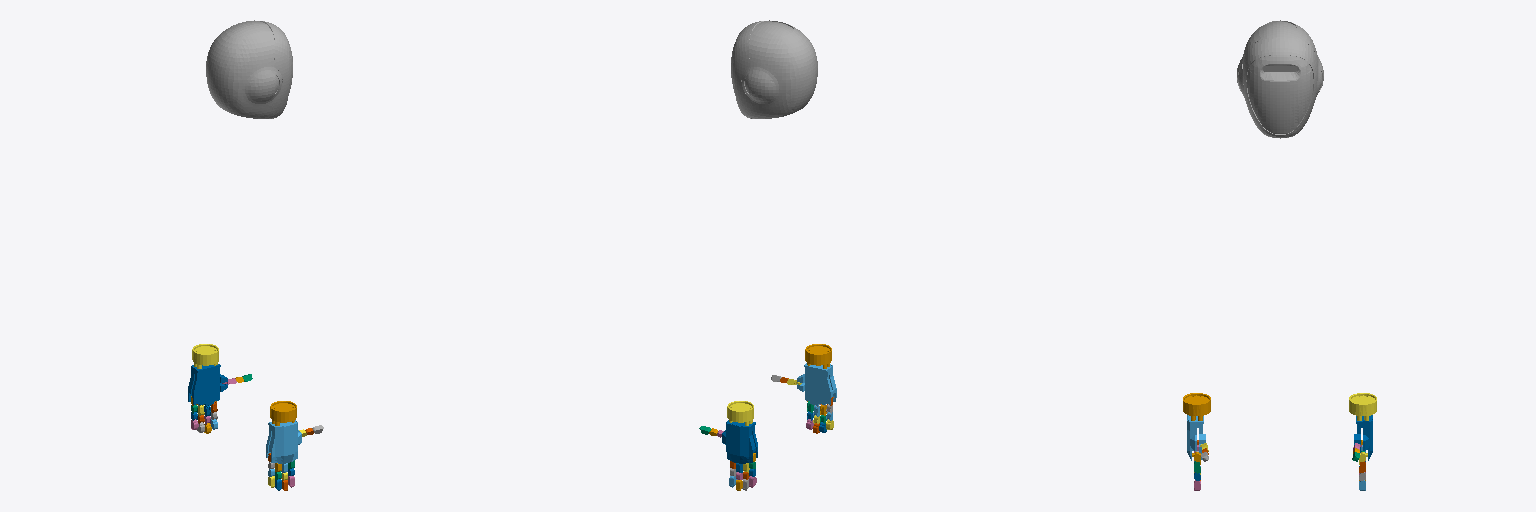
--- Facts derived from the render (not from the file) ---
Views: 3 orthographic renders of the robot side by side, from view 1: azimuth 30°, elevation 25°; view 2: azimuth 150°, elevation 25°; view 3: azimuth 270°, elevation 25°.
Robot: eve_r3 — 96 links, 95 joints (21 revolute, 2 continuous, 72 fixed); root link pelvis; default pose: every joint at zero.
Links seen in each view (by area): view 1: head, qbhand_left_palm_link, qbhand_right_palm_link, qbhand_left_base_link, qbhand_right_base_link; view 2: head, qbhand_right_palm_link, qbhand_left_palm_link, qbhand_left_base_link, qbhand_right_base_link; view 3: head, qbhand_right_base_link, qbhand_left_base_link, qbhand_right_palm_link.
Boxes of the visible links, <box> form: head: <box>206,20,292,118</box>; qbhand_left_palm_link: <box>188,364,227,405</box>; qbhand_right_palm_link: <box>266,420,301,463</box>; qbhand_left_base_link: <box>192,344,218,368</box>; qbhand_right_base_link: <box>270,401,296,425</box>; head: <box>731,20,817,118</box>; qbhand_right_palm_link: <box>797,363,836,405</box>; qbhand_left_palm_link: <box>722,420,757,463</box>; qbhand_left_base_link: <box>727,401,753,425</box>; qbhand_right_base_link: <box>805,344,831,368</box>; head: <box>1237,20,1323,138</box>; qbhand_right_base_link: <box>1183,393,1210,420</box>; qbhand_left_base_link: <box>1349,393,1376,420</box>; qbhand_right_palm_link: <box>1187,415,1205,460</box>.
Bounding box of the posed robot: 0.2379 × 0.4838 × 1.28 m (x, y, z).
Meshes: 25 distinct files referenced, 43 mesh visuals loaded (10 OBJ); not drawn: 23 (reference not matched to a file when rendering).

URDF robot description (eve_r3):
<?xml version="1.0" ?>
<!-- =================================================================================== -->
<!-- |    This document was autogenerated by xacro from [local-path]/ros2_test_ws/ros2-repository-group/eve_ws/src/halodi-robot-models/eve_r3_description/urdf/xacro/eve_r3.collision.urdf.xacro | -->
<!-- |    EDITING THIS FILE BY HAND IS NOT RECOMMENDED                                 | -->
<!-- =================================================================================== -->
<!--
Copyright 2019 Halodi Robotics AS
Author: Jesper Smith ([email redacted])

Licensed under the Apache License, Version 2.0 (the "License");
you may not use this file except in compliance with the License.
You may obtain a copy of the License at

<http://www.apache.org/licenses/LICENSE-2.0>.

Unless required by applicable law or agreed to in writing, software
distributed under the License is distributed on an "AS IS" BASIS,
WITHOUT WARRANTIES OR CONDITIONS OF ANY KIND, either express or implied.
See the License for the specific language governing permissions and
limitations under the License.
-->
<robot name="eve_r3" xmlns:ns2="http://www.ros.org" xmlns:xi="http://www.w3.org/2003/XInclude">
  <link name="pelvis">
    <inertial>
      <origin rpy="0.0 0.0 0.0" xyz="-0.02071479 -0.00544353 0.4100644"/>
      <mass value="10.12075049"/>
      <inertia ixx="0.2085075" ixy="8.581E-4" ixz="0.02176178" iyy="0.20882646" iyz="-0.00715583" izz="0.05515818"/>
    </inertial>
    <visual>
      <origin rpy="1.5707963 0.0 1.5707963" xyz="0.0 0.0 0.0"/>
      <geometry>
        <mesh filename="package://eve_r3_description/meshes/torso.obj" scale="1 1 1"/>
      </geometry>
    </visual>
    <collision>
      <origin rpy="9.13992e-10 0.0341716 1.56178e-11" xyz="0.00105003 -2.81214e-11 0.312479"/>
      <geometry>
        <sphere radius="0.15821131246447578"/>
      </geometry>
    </collision>
    <collision>
      <origin rpy="9.13992e-10 0.0341716 1.56178e-11" xyz="0.00574833 -1.53738e-10 0.449916"/>
      <geometry>
        <cylinder length="0.2750355457210817" radius="0.15821131246447578"/>
      </geometry>
    </collision>
    <collision>
      <origin rpy="9.13992e-10 0.0341716 1.56178e-11" xyz="0.0104466 -2.79355e-10 0.587354"/>
      <geometry>
        <sphere radius="0.15821131246447578"/>
      </geometry>
    </collision>
  </link>
  <joint name="j_hip_z" type="revolute">
    <origin rpy="0.0 0.0 0.0" xyz="0.0 0.0 0.0"/>
    <parent link="pelvis"/>
    <child link="abdomen"/>
    <axis xyz="0.0 0.0 1.0"/>
    <limit effort="-1.0" lower="-1.0472" upper="1.0472" velocity="-1.0"/>
  </joint>
  <link name="abdomen">
    <inertial>
      <origin rpy="0.0 0.0 0.0" xyz="-0.055941 0.001616 0.129607"/>
      <mass value="3.429553"/>
      <inertia ixx="0.055816" ixy="6.93E-4" ixz="-0.014517" iyy="0.054022" iyz="-0.001917" izz="0.020076"/>
    </inertial>
    <visual>
      <origin rpy="1.5707963 0.0 1.5707963" xyz="0.0 0.0 0.0"/>
      <geometry>
        <mesh filename="package://eve_r3_description/meshes/abdomen.obj" scale="1 1 1"/>
      </geometry>
    </visual>
  </link>
  <joint name="j_hip_x" type="revolute">
    <origin rpy="0.0 0.0 0.0" xyz="0.0 0.0 0.0"/>
    <parent link="abdomen"/>
    <child link="hip_x_link"/>
    <axis xyz="1.0 0.0 0.0"/>
    <limit effort="-1.0" lower="-0.523599" upper="0.523599" velocity="-1.0"/>
  </joint>
  <link name="hip_x_link">
    <inertial>
      <origin rpy="0.0 0.0 0.0" xyz="-0.01325838 -0.00134592 -2.24E-6"/>
      <mass value="2.94819561"/>
      <inertia ixx="0.01418919" ixy="6.936E-5" ixz="-7.734E-4" iyy="0.01504315" iyz="1.297E-5" izz="0.0170189"/>
    </inertial>
    <visual>
      <origin rpy="1.5707963 0.0 1.5707963" xyz="0.0 0.0 0.0"/>
      <geometry>
        <mesh filename="package://eve_r3_description/meshes/hip.obj" scale="1 1 1"/>
      </geometry>
    </visual>
  </link>
  <joint name="j_hip_y" type="revolute">
    <origin rpy="0.0 0.0 0.0" xyz="0.0 0.0 0.0"/>
    <parent link="hip_x_link"/>
    <child link="thigh"/>
    <axis xyz="0.0 1.0 0.0"/>
    <limit effort="-1.0" lower="-1.57" upper="0.174533" velocity="-1.0"/>
  </joint>
  <link name="thigh">
    <inertial>
      <origin rpy="0.0 0.0 0.0" xyz="0.04235221 1.7272E-4 -0.21689828"/>
      <mass value="10.80882706"/>
      <inertia ixx="0.1632404" ixy="2.6721E-4" ixz="0.01548511" iyy="0.14491867" iyz="-0.00115905" izz="0.06656334"/>
    </inertial>
    <visual>
      <origin rpy="1.5707963 0.0 1.5707963" xyz="0.0 0.0 0.0"/>
      <geometry>
        <mesh filename="package://eve_r3_description/meshes/thigh.obj" scale="1 1 1"/>
      </geometry>
    </visual>
    <collision>
      <origin rpy="-1.72563e-07 -0.0330992 2.85612e-09" xyz="0.0282257 -4.38066e-08 -0.37737"/>
      <geometry>
        <sphere radius="0.1443129681864922"/>
      </geometry>
    </collision>
    <collision>
      <origin rpy="-1.72563e-07 -0.0330992 2.85612e-09" xyz="0.0222008 -1.24073e-08 -0.195412"/>
      <geometry>
        <cylinder length="0.3641156505388305" radius="0.1443129681864922"/>
      </geometry>
    </collision>
    <collision>
      <origin rpy="-1.72563e-07 -0.0330992 2.85612e-09" xyz="0.016176 1.8992e-08 -0.0134536"/>
      <geometry>
        <sphere radius="0.1443129681864922"/>
      </geometry>
    </collision>
  </link>
  <joint name="j_knee_y" type="revolute">
    <origin rpy="0.0 0.0 0.0" xyz="0.0 0.0 -0.4"/>
    <parent link="thigh"/>
    <child link="shin"/>
    <axis xyz="0.0 1.0 0.0"/>
    <limit effort="-1.0" lower="0.0" upper="2.583" velocity="-1.0"/>
  </joint>
  <link name="shin">
    <inertial>
      <origin rpy="0.0 0.0 0.0" xyz="0.0177422 0.00453439 -0.17886128"/>
      <mass value="11.06513851"/>
      <inertia ixx="0.22300589" ixy="3.9863E-4" ixz="0.00421073" iyy="0.20307232" iyz="0.00715001" izz="0.05977916"/>
    </inertial>
    <visual>
      <origin rpy="1.5707963 0.0 1.5707963" xyz="0.0 0.0 0.0"/>
      <geometry>
        <mesh filename="package://eve_r3_description/meshes/shin.obj" scale="1 1 1"/>
      </geometry>
    </visual>
    <!-- <xacro:capsule-collision e1="0.00556497 -1.53939e-10 -0.373017" e2="0.0239255 -6.47095e-10 -0.0427174" rad="0.13200668659423737" lin="0.33080927242360381" rpy="1.49306e-09 0.0555303 4.14656e-11" mid="0.0147452 -4.00517e-10 -0.207867" /> -->
  </link>
  <joint name="j_ankle_y" type="revolute">
    <origin rpy="0.0 0.0 0.0" xyz="0.0 0.0 -0.38"/>
    <parent link="shin"/>
    <child link="ankle_y_link"/>
    <axis xyz="0.0 1.0 0.0"/>
    <limit effort="-1.0" lower="-1.57" upper="0.174533" velocity="-1.0"/>
  </joint>
  <link name="ankle_y_link">
    <inertial>
      <origin rpy="0.0 0.0 0.0" xyz="-0.017472 0.001483 -6.81E-4"/>
      <mass value="2.742145"/>
      <inertia ixx="0.010787" ixy="-9.0E-5" ixz="2.71E-4" iyy="0.009295" iyz="9.0E-6" izz="0.014432"/>
    </inertial>
    <visual>
      <origin rpy="1.5707963 0.0 1.5707963" xyz="0.0 0.0 0.0"/>
      <geometry>
        <mesh filename="package://eve_r3_description/meshes/ankle.obj" scale="1 1 1"/>
      </geometry>
    </visual>
  </link>
  <joint name="j_ankle_x" type="revolute">
    <origin rpy="0.0 0.0 0.0" xyz="0.0 0.0 0.0"/>
    <parent link="ankle_y_link"/>
    <child link="base"/>
    <axis xyz="1.0 0.0 0.0"/>
    <limit effort="-1.0" lower="-0.523599" upper="0.523599" velocity="-1.0"/>
  </joint>
  <link name="base">
    <inertial>
      <origin rpy="0.0 0.0 0.0" xyz="-0.005001 0.002979 -0.007684"/>
      <mass value="12.487535"/>
      <inertia ixx="0.330887" ixy="0.005202" ixz="-0.015354" iyy="0.233226" iyz="-3.7E-5" izz="0.532943"/>
    </inertial>
    <visual>
      <origin rpy="1.5707963 0.0 1.5707963" xyz="0.0 0.0 0.0"/>
      <geometry>
        <mesh filename="package://eve_r3_description/meshes/base.obj" scale="1 1 1"/>
      </geometry>
    </visual>
    <collision>
      <origin rpy="0.0 0.0 0.0" xyz="-0.284 0.0 0.019000"/>
      <geometry>
        <sphere radius="0.1524"/>
      </geometry>
    </collision>
  </link>
  <joint name="j_l_wheel_y" type="continuous">
    <origin rpy="0.0 0.0 0.0" xyz="0.142 0.26983 0.019"/>
    <parent link="base"/>
    <child link="l_wheel"/>
    <axis xyz="0.0 1.0 0.0"/>
    <limit effort="-1.0" lower="-1.0E16" upper="1.0E16" velocity="-1.0"/>
  </joint>
  <link name="l_wheel">
    <inertial>
      <origin rpy="0.0 0.0 0.0" xyz="1.45E-6 -0.00487572 -1.4137E-4"/>
      <mass value="2.17850874"/>
      <inertia ixx="0.0042794" ixy="-1.22E-6" ixz="-7.84E-6" iyy="0.0074513" iyz="-5.69E-6" izz="0.00423463"/>
    </inertial>
    <visual>
      <origin rpy="1.5707963 0.0 -1.5707963" xyz="0.0 0.0 0.0"/>
      <geometry>
        <mesh filename="package://eve_r3_description/meshes/wheel.obj" scale="1 1 1"/>
      </geometry>
    </visual>
    <collision>
      <origin rpy="1.5707963 0.0 0.0" xyz="0.0 0.0 0.0"/>
      <geometry>
        <cylinder length="0.03" radius="0.1524"/>
      </geometry>
    </collision>
  </link>
  <joint name="j_r_wheel_y" type="continuous">
    <origin rpy="0.0 0.0 0.0" xyz="0.142 -0.26983 0.019"/>
    <parent link="base"/>
    <child link="r_wheel"/>
    <axis xyz="0.0 1.0 0.0"/>
    <limit effort="-1.0" lower="-1.0E16" upper="1.0E16" velocity="-1.0"/>
  </joint>
  <link name="r_wheel">
    <inertial>
      <origin rpy="0.0 0.0 0.0" xyz="-1.45E-6 0.00487572 -1.4137E-4"/>
      <mass value="2.17850874"/>
      <inertia ixx="0.0042794" ixy="-1.22E-6" ixz="7.84E-6" iyy="0.0074513" iyz="5.69E-6" izz="0.00423463"/>
    </inertial>
    <visual>
      <origin rpy="1.5707963 0.0 1.5707963" xyz="0.0 0.0 0.0"/>
      <geometry>
        <mesh filename="package://eve_r3_description/meshes/wheel.obj" scale="1 1 1"/>
      </geometry>
    </visual>
    <collision>
      <origin rpy="1.5707963 0.0 0.0" xyz="0.0 0.0 0.0"/>
      <geometry>
        <cylinder length="0.03" radius="0.1524"/>
      </geometry>
    </collision>
  </link>
  <gazebo reference="pelvis">
    <sensor name="pelvis_imu_sensor" type="imu">
      <always_on>1</always_on>
      <update_rate>1000</update_rate>
      <imu>
        <noise>
          <type>gaussian</type>
          <rate>
            <mean>0</mean>
            <stddev>0.0022</stddev>
            <bias_mean>0.0035</bias_mean>
            <bias_stddev>0.001</bias_stddev>
          </rate>
          <accel>
            <mean>0</mean>
            <stddev>0.031</stddev>
            <bias_mean>0.006</bias_mean>
            <bias_stddev>0.001</bias_stddev>
          </accel>
        </noise>
      </imu>
      <pose frame="">-0.057 0.0 0.39790 0 0.0 0</pose>
    </sensor>
  </gazebo>
  <gazebo reference="base">
    <sensor name="base_imu_left" type="imu">
      <always_on>1</always_on>
      <update_rate>1000</update_rate>
      <imu>
        <noise>
          <type>gaussian</type>
          <rate>
            <mean>0</mean>
            <stddev>0.0022</stddev>
            <bias_mean>0.0174533</bias_mean>
            <bias_stddev>0.0001</bias_stddev>
          </rate>
          <accel>
            <mean>0</mean>
            <stddev>0.031</stddev>
            <bias_mean>0.012</bias_mean>
            <bias_stddev>0.001</bias_stddev>
          </accel>
        </noise>
      </imu>
      <pose frame="">0.23412 0.1925 0.013 0 0.0 0</pose>
    </sensor>
  </gazebo>
  <gazebo reference="base">
    <mu1>0.0</mu1>
    <mu2>0.0</mu2>
  </gazebo>
  <joint name="j_r_shoulder_y" type="revolute">
    <origin rpy="-0.261799 0.0 0.261799" xyz="0.01041 -0.20675 0.54735"/>
    <parent link="pelvis"/>
    <child link="r_scapula"/>
    <axis xyz="0.0 1.0 0.0"/>
    <limit effort="-1.0" lower="-2.4240878" upper="0.981049573" velocity="-1.0"/>
  </joint>
  <link name="r_scapula">
    <inertial>
      <origin rpy="0.0 0.0 0.0" xyz="3.7947E-4 0.06518341 0.02816495"/>
      <mass value="3.00220101"/>
      <inertia ixx="0.01020711" ixy="2.03E-6" ixz="-3.444E-5" iyy="0.01151732" iyz="0.00114803" izz="0.01329451"/>
    </inertial>
    <visual>
      <origin rpy="1.5707963 0.0 0.0" xyz="0.0 0.0 0.0"/>
      <geometry>
        <mesh filename="package://eve_r3_description/meshes/scapula.obj" scale="1 1 1"/>
      </geometry>
    </visual>
  </link>
  <joint name="j_r_shoulder_x" type="revolute">
    <origin rpy="0.261799 0.0 0.0" xyz="0.0 0.0 0.0"/>
    <parent link="r_scapula"/>
    <child link="r_shoulder"/>
    <axis xyz="1.0 0.0 0.0"/>
    <limit effort="-1.0" lower="-2.0943951" upper="0.0872665" velocity="-1.0"/>
  </joint>
  <link name="r_shoulder">
    <inertial>
      <origin rpy="0.0 0.0 0.0" xyz="1.673E-5 -1.9377E-4 -0.01871047"/>
      <mass value="0.62091759"/>
      <inertia ixx="9.7077E-4" ixy="3.76E-6" ixz="1.39E-6" iyy="0.00133514" iyz="-5.96E-6" izz="7.8248E-4"/>
    </inertial>
    <visual>
      <origin rpy="3.14159 0.0 0.0" xyz="0.0 0.0 0.0"/>
      <geometry>
        <mesh filename="package://eve_r3_description/meshes/shoulder.obj" scale="1 1 1"/>
      </geometry>
    </visual>
  </link>
  <joint name="j_r_shoulder_z" type="revolute">
    <origin rpy="0.0 0.0 -0.261799" xyz="0.0 0.0 0.0"/>
    <parent link="r_shoulder"/>
    <child link="r_upper_arm"/>
    <axis xyz="0.0 0.0 1.0"/>
    <limit effort="-1.0" lower="-0.5410525" upper="1.4660761" velocity="-1.0"/>
  </joint>
  <link name="r_upper_arm">
    <inertial>
      <origin rpy="0.0 0.0 0.0" xyz="-0.00699737 1.3778E-4 -0.1740665"/>
      <mass value="3.32084455"/>
      <inertia ixx="0.01594152" ixy="8.55E-6" ixz="-5.4922E-4" iyy="0.01550579" iyz="3.617E-5" izz="0.00620232"/>
    </inertial>
    <visual>
      <origin rpy="1.5707963 0.0 3.14159" xyz="0.0 0.0 0.0"/>
      <geometry>
        <mesh filename="package://eve_r3_description/meshes/upper_arm.obj" scale="1 1 1"/>
      </geometry>
    </visual>
    <collision>
      <origin rpy="3.14159 0.0342758 3.14159" xyz="-0.00724655 2.24005e-08 -0.118328"/>
      <geometry>
        <sphere radius="0.07633577123052412"/>
      </geometry>
    </collision>
    <collision>
      <origin rpy="3.14159 0.0342758 3.14159" xyz="-0.00381012 1.59666e-08 -0.218547"/>
      <geometry>
        <cylinder length="0.20055564626986525" radius="0.07633577123052412"/>
      </geometry>
    </collision>
    <collision>
      <origin rpy="3.14159 0.0342758 3.14159" xyz="-0.000373695 9.53277e-09 -0.318766"/>
      <geometry>
        <sphere radius="0.07633577123052412"/>
      </geometry>
    </collision>
  </link>
  <joint name="j_r_elbow_y" type="revolute">
    <origin rpy="0.0 0.0 0.0" xyz="0.0 0.0 -0.3141"/>
    <parent link="r_upper_arm"/>
    <child link="r_elbow"/>
    <axis xyz="0.0 1.0 0.0"/>
    <limit effort="-1.0" lower="-2.18166" upper="0.0" velocity="-1.0"/>
  </joint>
  <link name="r_elbow">
    <inertial>
      <origin rpy="0.0 0.0 0.0" xyz="6.557E-5 1.91E-6 -0.00890628"/>
      <mass value="0.4622891"/>
      <inertia ixx="8.234E-4" ixy="-2.0E-8" ixz="1.04E-6" iyy="3.6507E-4" iyz="-3.0E-8" izz="6.1458E-4"/>
    </inertial>
    <visual>
      <origin rpy="0.0 3.14159 1.5707963" xyz="0.0 0.0 0.0"/>
      <geometry>
        <mesh filename="package://eve_r3_description/meshes/elbow.obj" scale="1 1 1"/>
      </geometry>
    </visual>
  </link>
  <joint name="j_r_elbow_z" type="revolute">
    <origin rpy="0.0 0.0 0.0" xyz="0.0 0.0 0.0"/>
    <parent link="r_elbow"/>
    <child link="r_lower_arm"/>
    <axis xyz="0.0 0.0 1.0"/>
    <limit effort="-1.0" lower="-0.7854" upper="1.5708" velocity="-1.0"/>
  </joint>
  <link name="r_lower_arm">
    <inertial>
      <origin rpy="0.0 0.0 0.0" xyz="4.924E-5 -7.579E-5 -0.14272507"/>
      <mass value="1.72645167"/>
      <inertia ixx="0.00752527" ixy="2.55E-6" ixz="-3.2E-6" iyy="0.00785805" iyz="-8.5E-7" izz="0.00189704"/>
    </inertial>
    <visual>
      <origin rpy="0.0 3.14159 0.0" xyz="0.0 0.0 -0.29285"/>
      <geometry>
        <mesh filename="package://eve_r3_description/meshes/forearm.obj" scale="1 1 1"/>
      </geometry>
    </visual>
    <collision>
      <origin rpy="-1.42646e-11 -0.00013964 9.95948e-16" xyz="1.10713e-05 -2.03587e-12 -0.286073"/>
      <geometry>
        <sphere radius="0.061232815843670255"/>
      </geometry>
    </collision>
    <collision>
      <origin rpy="-1.42646e-11 -0.00013964 9.95948e-16" xyz="-3.15753e-06 -5.8236e-13 -0.184176"/>
      <geometry>
        <cylinder length="0.20379361437171506" radius="0.061232815843670255"/>
      </geometry>
    </collision>
    <collision>
      <origin rpy="-1.42646e-11 -0.00013964 9.95948e-16" xyz="-1.73864e-05 8.71154e-13 -0.0822794"/>
      <geometry>
        <sphere radius="0.061232815843670255"/>
      </geometry>
    </collision>
  </link>
  <joint name="j_r_wrist_y" type="revolute">
    <origin rpy="0.0 0.0 0.0" xyz="0.0 0.0 -0.29285"/>
    <parent link="r_lower_arm"/>
    <child link="r_wrist"/>
    <axis xyz="0.0 1.0 0.0"/>
    <limit effort="-1.0" lower="-0.785398" upper="0.785398" velocity="-1.0"/>
  </joint>
  <link name="r_wrist">
    <inertial>
      <origin rpy="0.0 0.0 0.0" xyz="1.859E-4 5.5E-5 -0.001294"/>
      <mass value="0.3582051"/>
      <inertia ixx="2.896E-4" ixy="2.1E-6" ixz="-1.1E-6" iyy="2.335E-4" iyz="-3.0E-7" izz="3.221E-4"/>
    </inertial>
    <visual>
      <origin rpy="0.0 0.0 1.5708" xyz="0.0 0.0 0.0"/>
      <geometry>
        <mesh filename="package://eve_r3_description/meshes/wrist.obj" scale="1 1 1"/>
      </geometry>
    </visual>
  </link>
  <joint name="j_r_wrist_x" type="revolute">
    <origin rpy="0.0 0.0 0.0" xyz="0.0 0.0 0.0"/>
    <parent link="r_wrist"/>
    <child link="r_palm"/>
    <axis xyz="1.0 0.0 0.0"/>
    <limit effort="-1.0" lower="-0.523599" upper="1.5708" velocity="-1.0"/>
  </joint>
  <link name="r_palm">
    <inertial>
      <origin rpy="0.0 0.0 0.0" xyz="0.0038054 -0.002091 -0.03373019"/>
      <mass value="0.22529206"/>
      <inertia ixx="2.4167E-4" ixy="-5.6E-7" ixz="-3.083E-5" iyy="4.0895E-4" iyz="3.58E-6" izz="2.7633E-4"/>
    </inertial>
    <visual>
      <origin rpy="-1.5707963 0.0 0.0" xyz="0.0 0.0 0.0"/>
      <geometry>
        <mesh filename="package://eve_r3_description/meshes/palm.obj" scale="1 1 1"/>
      </geometry>
    </visual>
  </link>
  <joint name="qbhand_right_base_fixed_joint" type="fixed">
    <origin rpy="3.14 0 3.14" xyz="0 0 -0.06"/>
    <parent link="r_palm"/>
    <child link="qbhand_right_base_link"/>
  </joint>
  <link name="qbhand_right_base_link">
    <inertial>
      <mass value="0.15"/>
      <origin xyz="0 0 0.0015"/>
      <inertia ixx="6e-05" ixy="0" ixz="0" iyy="6e-05" iyz="0" izz="9e-05"/>
    </inertial>
    <visual>
      <origin rpy="0 0 0" xyz="0 0 0"/>
      <geometry>
        <mesh filename="package://qb_hand_description/meshes/flange_iso_04.obj" scale="0.001 0.001 0.001"/>
      </geometry>
    </visual>
    <collision>
      <origin rpy="0 0 0" xyz="0 0 0"/>
      <geometry>
        <mesh filename="package://qb_hand_description/meshes/flange_iso_04.obj" scale="0.001 0.001 0.001"/>
      </geometry>
    </collision>
  </link>
  <joint name="qbhand_right_palm_fixed_joint" type="fixed">
    <origin rpy="1.57 0 0" xyz="-0.0045 0.0145 0.144"/>
    <parent link="qbhand_right_base_link"/>
    <child link="qbhand_right_palm_link"/>
  </joint>
  <link name="qbhand_right_palm_link">
    <inertial>
      <mass value="0.36"/>
      <origin xyz="0.0 0.02 0.05"/>
      <inertia ixx="0.00045" ixy="0.0" ixz="0.0" iyy="0.0006" iyz="0.0" izz="0.00025"/>
    </inertial>
    <visual>
      <origin rpy="0 0 0" xyz="0 0 0"/>
      <geometry>
        <mesh filename="package://qb_hand_description/meshes/palm_pinch_r.obj" scale="0.001 0.001 0.001"/>
      </geometry>
    </visual>
    <collision>
      <origin rpy="0 0 0" xyz="0 0 0"/>
      <geometry>
        <mesh filename="package://qb_hand_description/meshes/palm_pinch_r.obj" scale="0.001 0.001 0.001"/>
      </geometry>
    </collision>
  </link>
  <joint name="qbhand_right_synergy_joint" type="fixed">
    <origin rpy="0 0 0" xyz="0 0 0"/>
    <parent link="qbhand_right_palm_link"/>
    <child link="qbhand_right_tendon_virtual_link"/>
    <axis xyz="0 0 1"/>
    <dynamics damping="0.0" friction="0.0"/>
    <limit effort="100" lower="0.0" upper="1.0" velocity="100"/>
  </joint>
  <link name="qbhand_right_tendon_virtual_link">
    <inertial>
      <origin rpy="0 0 0" xyz="0 0 0"/>
      <mass value="0.005"/>
      <inertia ixx="1e-08" ixy="0.0" ixz="0.0" iyy="1e-08" iyz="0.0" izz="1e-08"/>
    </inertial>
  </link>
  <joint name="qbhand_right_thumb_knuckle_joint" type="fixed">
    <origin rpy="-1.57 3.14 0" xyz="-0.0435 -0.0435 -0.002"/>
    <parent link="qbhand_right_palm_link"/>
    <child link="qbhand_right_thumb_knuckle_link"/>
    <axis xyz="0 0 -1"/>
    <dynamics damping="0.0" friction="0.0"/>
    <limit effort="100" lower="0.0" upper="1.571" velocity="100"/>
    <mimic joint="qbhand_right_synergy_joint" multiplier="2.542"/>
  </joint>
  <link name="qbhand_right_thumb_knuckle_link">
    <inertial>
      <mass value="0.005"/>
      <origin xyz="0 0 0"/>
      <inertia ixx="1e-06" ixy="0.0" ixz="0.0" iyy="1e-06" iyz="0.0" izz="1e-06"/>
    </inertial>
    <visual>
      <origin rpy="0 0 0" xyz="0 0 0"/>
      <geometry>
        <mesh filename="package://qb_hand_description/meshes/ph_thumb_r.obj" scale="0.001 0.001 0.001"/>
      </geometry>
    </visual>
    <collision>
      <origin rpy="0 0 0" xyz="0 0 0"/>
      <geometry>
        <mesh filename="package://qb_hand_description/meshes/ph_thumb_r.obj" scale="0.001 0.001 0.001"/>
      </geometry>
    </collision>
  </link>
  <joint name="qbhand_right_thumb_proximal_joint" type="fixed">
    <origin rpy="-1.15 0.0 0.0" xyz="0.0255 -0.004 -0.0025"/>
    <parent link="qbhand_right_thumb_knuckle_link"/>
    <child link="qbhand_right_thumb_proximal_virtual_link"/>
    <axis xyz="0 0 -1"/>
    <dynamics damping="0.0" friction="0.0"/>
    <limit effort="100" lower="0.0" upper="0.785" velocity="100"/>
    <mimic joint="qbhand_right_synergy_joint" multiplier="0.785"/>
  </joint>
  <link name="qbhand_right_thumb_proximal_virtual_link">
    <inertial>
      <origin rpy="0 0 0" xyz="0 0 0"/>
      <mass value="0.005"/>
      <inertia ixx="1e-08" ixy="0.0" ixz="0.0" iyy="1e-08" iyz="0.0" izz="1e-08"/>
    </inertial>
  </link>
  <joint name="qbhand_right_thumb_proximal_virtual_joint" type="fixed">
    <origin rpy="0 0 0" xyz="0.013 0 0"/>
    <parent link="qbhand_right_thumb_proximal_virtual_link"/>
    <child link="qbhand_right_thumb_proximal_link"/>
    <axis xyz="0 0 -1"/>
    <dynamics damping="0.0" friction="0.0"/>
    <limit effort="100" lower="0.0" upper="0.785" velocity="100"/>
    <mimic joint="qbhand_right_thumb_proximal_joint" multiplier="1.0"/>
  </joint>
  <link name="qbhand_right_thumb_proximal_link">
    <inertial>
      <mass value="0.005"/>
      <origin xyz="0 0 0"/>
      <inertia ixx="1e-06" ixy="0.0" ixz="0.0" iyy="1e-06" iyz="0.0" izz="1e-06"/>
    </inertial>
    <visual>
      <origin rpy="0 0 0" xyz="0 0 0"/>
      <geometry>
        <mesh filename="package://qb_hand_description/meshes/ph_small.obj" scale="0.001 0.001 0.001"/>
      </geometry>
    </visual>
    <collision>
      <origin rpy="0 0 0" xyz="0 0 0"/>
      <geometry>
        <mesh filename="package://qb_hand_description/meshes/ph_small.obj" scale="0.001 0.001 0.001"/>
      </geometry>
    </collision>
  </link>
  <joint name="qbhand_right_thumb_distal_joint" type="fixed">
    <origin rpy="0 0 0" xyz="0.009 0 0"/>
    <parent link="qbhand_right_thumb_proximal_link"/>
    <child link="qbhand_right_thumb_distal_virtual_link"/>
    <axis xyz="0 0 -1"/>
    <dynamics damping="0.0" friction="0.0"/>
    <limit effort="100" lower="0.0" upper="0.785" velocity="100"/>
    <mimic joint="qbhand_right_synergy_joint" multiplier="0.785"/>
  </joint>
  <link name="qbhand_right_thumb_distal_virtual_link">
    <inertial>
      <origin rpy="0 0 0" xyz="0 0 0"/>
      <mass value="0.005"/>
      <inertia ixx="1e-08" ixy="0.0" ixz="0.0" iyy="1e-08" iyz="0.0" izz="1e-08"/>
    </inertial>
  </link>
  <joint name="qbhand_right_thumb_distal_virtual_joint" type="fixed">
    <origin rpy="0 0 0" xyz="0.013 0 0"/>
    <parent link="qbhand_right_thumb_distal_virtual_link"/>
    <child link="qbhand_right_thumb_distal_link"/>
    <axis xyz="0 0 -1"/>
    <dynamics damping="0.0" friction="0.0"/>
    <limit effort="100" lower="0.0" upper="0.785" velocity="100"/>
    <mimic joint="qbhand_right_thumb_distal_joint" multiplier="1.0"/>
  </joint>
  <link name="qbhand_right_thumb_distal_link">
    <inertial>
      <mass value="0.005"/>
      <origin xyz="0 0 0"/>
      <inertia ixx="1e-06" ixy="0.0" ixz="0.0" iyy="1e-06" iyz="0.0" izz="1e-06"/>
    </inertial>
    <visual>
      <origin rpy="0 0 0" xyz="0 0 0"/>
      <geometry>
        <mesh filename="package://qb_hand_description/meshes/ph_distal.obj" scale="0.001 0.001 0.001"/>
      </geometry>
    </visual>
    <collision>
      <origin rpy="0 0 0" xyz="0 0 0"/>
      <geometry>
        <mesh filename="package://qb_hand_description/meshes/ph_distal.obj" scale="0.001 0.001 0.001"/>
      </geometry>
    </collision>
  </link>
  <joint name="qbhand_right_index_knuckle_joint" type="fixed">
    <origin rpy="0 0 0" xyz="-0.02 -0.007 0.014"/>
    <parent link="qbhand_right_palm_link"/>
    <child link="qbhand_right_index_knuckle_link"/>
    <axis xyz="0 0 -1"/>
    <dynamics damping="0.0" friction="0.0"/>
    <limit effort="100" lower="-0.524" upper="0.524" velocity="100"/>
    <mimic joint="qbhand_right_synergy_joint" multiplier="-0.2"/>
  </joint>
  <link name="qbhand_right_index_knuckle_link">
    <inertial>
      <mass value="0.005"/>
      <origin xyz="0 0 0"/>
      <inertia ixx="1e-06" ixy="0.0" ixz="0.0" iyy="1e-06" iyz="0.0" izz="1e-06"/>
    </inertial>
    <visual>
      <origin rpy="0 0 0" xyz="0 0 0"/>
      <geometry>
        <mesh filename="package://qb_hand_description/meshes/ph_knuckle.obj" scale="0.001 0.001 0.001"/>
      </geometry>
    </visual>
    <collision>
      <origin rpy="0 0 0" xyz="0 0 0"/>
      <geometry>
        <mesh filename="package://qb_hand_description/meshes/ph_knuckle.obj" scale="0.001 0.001 0.001"/>
      </geometry>
    </collision>
  </link>
  <joint name="qbhand_right_index_proximal_joint" type="fixed">
    <origin rpy="1.57 0 1.57" xyz="0 0.009 0"/>
    <parent link="qbhand_right_index_knuckle_link"/>
    <child link="qbhand_right_index_proximal_virtual_link"/>
    <axis xyz="0 0 -1"/>
    <dynamics damping="0.0" friction="0.0"/>
    <limit effort="100" lower="0.0" upper="0.785" velocity="100"/>
    <mimic joint="qbhand_right_synergy_joint" multiplier="0.785"/>
  </joint>
  <link name="qbhand_right_index_proximal_virtual_link">
    <inertial>
      <origin rpy="0 0 0" xyz="0 0 0"/>
      <mass value="0.005"/>
      <inertia ixx="1e-08" ixy="0.0" ixz="0.0" iyy="1e-08" iyz="0.0" izz="1e-08"/>
    </inertial>
  </link>
  <joint name="qbhand_right_index_proximal_virtual_joint" type="fixed">
    <origin rpy="0 0 0" xyz="0.013 0 0"/>
    <parent link="qbhand_right_index_proximal_virtual_link"/>
    <child link="qbhand_right_index_proximal_link"/>
    <axis xyz="0 0 -1"/>
    <dynamics damping="0.0" friction="0.0"/>
    <limit effort="100" lower="0.0" upper="0.785" velocity="100"/>
    <mimic joint="qbhand_right_index_proximal_joint" multiplier="1.0"/>
  </joint>
  <link name="qbhand_right_index_proximal_link">
    <inertial>
      <mass value="0.005"/>
      <origin xyz="0 0 0"/>
      <inertia ixx="1e-06" ixy="0.0" ixz="0.0" iyy="1e-06" iyz="0.0" izz="1e-06"/>
    </inertial>
    <visual>
      <origin rpy="0 0 0" xyz="0 0 0"/>
      <geometry>
        <mesh filename="package://qb_hand_description/meshes/ph_medium.obj" scale="0.001 0.001 0.001"/>
      </geometry>
    </visual>
    <collision>
      <origin rpy="0 0 0" xyz="0 0 0"/>
      <geometry>
        <mesh filename="package://qb_hand_description/meshes/ph_medium.obj" scale="0.001 0.001 0.001"/>
      </geometry>
    </collision>
  </link>
  <joint name="qbhand_right_index_middle_joint" type="fixed">
    <origin rpy="0 0 0" xyz="0.017 0 0"/>
    <parent link="qbhand_right_index_proximal_link"/>
    <child link="qbhand_right_index_middle_virtual_link"/>
    <axis xyz="0 0 -1"/>
    <dynamics damping="0.0" friction="0.0"/>
    <limit effort="100" lower="0.0" upper="0.785" velocity="100"/>
    <mimic joint="qbhand_right_synergy_joint" multiplier="0.785"/>
  </joint>
  <link name="qbhand_right_index_middle_virtual_link">
    <inertial>
      <origin rpy="0 0 0" xyz="0 0 0"/>
      <mass value="0.005"/>
      <inertia ixx="1e-08" ixy="0.0" ixz="0.0" iyy="1e-08" iyz="0.0" izz="1e-08"/>
    </inertial>
  </link>
  <joint name="qbhand_right_index_middle_virtual_joint" type="fixed">
    <origin rpy="0 0 0" xyz="0.013 0 0"/>
    <parent link="qbhand_right_index_middle_virtual_link"/>
    <child link="qbhand_right_index_middle_link"/>
    <axis xyz="0 0 -1"/>
    <dynamics damping="0.0" friction="0.0"/>
    <limit effort="100" lower="0.0" upper="0.785" velocity="100"/>
    <mimic joint="qbhand_right_index_middle_joint" multiplier="1.0"/>
  </joint>
  <link name="qbhand_right_index_middle_link">
    <inertial>
      <mass value="0.005"/>
      <origin xyz="0 0 0"/>
      <inertia ixx="1e-06" ixy="0.0" ixz="0.0" iyy="1e-06" iyz="0.0" izz="1e-06"/>
    </inertial>
    <visual>
      <origin rpy="0 0 0" xyz="0 0 0"/>
      <geometry>
        <mesh filename="package://qb_hand_description/meshes/ph_small.obj" scale="0.001 0.001 0.001"/>
      </geometry>
    </visual>
    <collision>
      <origin rpy="0 0 0" xyz="0 0 0"/>
      <geometry>
        <mesh filename="package://qb_hand_description/meshes/ph_small.obj" scale="0.001 0.001 0.001"/>
      </geometry>
    </collision>
  </link>
  <joint name="qbhand_right_index_distal_joint" type="fixed">
    <origin rpy="0 0 0" xyz="0.009 0 0"/>
    <parent link="qbhand_right_index_middle_link"/>
    <child link="qbhand_right_index_distal_virtual_link"/>
    <axis xyz="0 0 -1"/>
    <dynamics damping="0.0" friction="0.0"/>
    <limit effort="100" lower="0.0" upper="0.785" velocity="100"/>
    <mimic joint="qbhand_right_synergy_joint" multiplier="0.785"/>
  </joint>
  <link name="qbhand_right_index_distal_virtual_link">
    <inertial>
      <origin rpy="0 0 0" xyz="0 0 0"/>
      <mass value="0.005"/>
      <inertia ixx="1e-08" ixy="0.0" ixz="0.0" iyy="1e-08" iyz="0.0" izz="1e-08"/>
    </inertial>
  </link>
  <joint name="qbhand_right_index_distal_virtual_joint" type="fixed">
    <origin rpy="0 0 0" xyz="0.013 0 0"/>
    <parent link="qbhand_right_index_distal_virtual_link"/>
    <child link="qbhand_right_index_distal_link"/>
    <axis xyz="0 0 -1"/>
    <dynamics damping="0.0" friction="0.0"/>
    <limit effort="100" lower="0.0" upper="0.785" velocity="100"/>
    <mimic joint="qbhand_right_index_distal_joint" multiplier="1.0"/>
  </joint>
  <link name="qbhand_right_index_distal_link">
    <inertial>
      <mass value="0.005"/>
      <origin xyz="0 0 0"/>
      <inertia ixx="1e-06" ixy="0.0" ixz="0.0" iyy="1e-06" iyz="0.0" izz="1e-06"/>
    </inertial>
    <visual>
      <origin rpy="0 0 0" xyz="0 0 0"/>
      <geometry>
        <mesh filename="package://qb_hand_description/meshes/ph_distal.obj" scale="0.001 0.001 0.001"/>
      </geometry>
    </visual>
    <collision>
      <origin rpy="0 0 0" xyz="0 0 0"/>
      <geometry>
        <mesh filename="package://qb_hand_description/meshes/ph_distal.obj" scale="0.001 0.001 0.001"/>
      </geometry>
    </collision>
  </link>
  <joint name="qbhand_right_middle_knuckle_joint" type="fixed">
    <origin rpy="0 0 0" xyz="0 0 0.014"/>
    <parent link="qbhand_right_palm_link"/>
    <child link="qbhand_right_middle_knuckle_link"/>
    <axis xyz="0 0 -1"/>
    <dynamics damping="0.0" friction="0.0"/>
    <limit effort="100" lower="-0.524" upper="0.524" velocity="100"/>
    <mimic joint="qbhand_right_synergy_joint" multiplier="0.0"/>
  </joint>
  <link name="qbhand_right_middle_knuckle_link">
    <inertial>
      <mass value="0.005"/>
      <origin xyz="0 0 0"/>
      <inertia ixx="1e-06" ixy="0.0" ixz="0.0" iyy="1e-06" iyz="0.0" izz="1e-06"/>
    </inertial>
    <visual>
      <origin rpy="0 0 0" xyz="0 0 0"/>
      <geometry>
        <mesh filename="package://qb_hand_description/meshes/ph_knuckle.obj" scale="0.001 0.001 0.001"/>
      </geometry>
    </visual>
    <collision>
      <origin rpy="0 0 0" xyz="0 0 0"/>
      <geometry>
        <mesh filename="package://qb_hand_description/meshes/ph_knuckle.obj" scale="0.001 0.001 0.001"/>
      </geometry>
    </collision>
  </link>
  <joint name="qbhand_right_middle_proximal_joint" type="fixed">
    <origin rpy="1.57 0 1.57" xyz="0 0.009 0"/>
    <parent link="qbhand_right_middle_knuckle_link"/>
    <child link="qbhand_right_middle_proximal_virtual_link"/>
    <axis xyz="0 0 -1"/>
    <dynamics damping="0.0" friction="0.0"/>
    <limit effort="100" lower="0.0" upper="0.785" velocity="100"/>
    <mimic joint="qbhand_right_synergy_joint" multiplier="0.785"/>
  </joint>
  <link name="qbhand_right_middle_proximal_virtual_link">
    <inertial>
      <origin rpy="0 0 0" xyz="0 0 0"/>
      <mass value="0.005"/>
      <inertia ixx="1e-08" ixy="0.0" ixz="0.0" iyy="1e-08" iyz="0.0" izz="1e-08"/>
    </inertial>
  </link>
  <joint name="qbhand_right_middle_proximal_virtual_joint" type="fixed">
    <origin rpy="0 0 0" xyz="0.013 0 0"/>
    <parent link="qbhand_right_middle_proximal_virtual_link"/>
    <child link="qbhand_right_middle_proximal_link"/>
    <axis xyz="0 0 -1"/>
    <dynamics damping="0.0" friction="0.0"/>
    <limit effort="100" lower="0.0" upper="0.785" velocity="100"/>
    <mimic joint="qbhand_right_middle_proximal_joint" multiplier="1.0"/>
  </joint>
  <link name="qbhand_right_middle_proximal_link">
    <inertial>
      <mass value="0.005"/>
      <origin xyz="0 0 0"/>
      <inertia ixx="1e-06" ixy="0.0" ixz="0.0" iyy="1e-06" iyz="0.0" izz="1e-06"/>
    </inertial>
    <visual>
      <origin rpy="0 0 0" xyz="0 0 0"/>
      <geometry>
        <mesh filename="package://qb_hand_description/meshes/ph_medium.obj" scale="0.001 0.001 0.001"/>
      </geometry>
    </visual>
    <collision>
      <origin rpy="0 0 0" xyz="0 0 0"/>
      <geometry>
        <mesh filename="package://qb_hand_description/meshes/ph_medium.obj" scale="0.001 0.001 0.001"/>
      </geometry>
    </collision>
  </link>
  <joint name="qbhand_right_middle_middle_joint" type="fixed">
    <origin rpy="0 0 0" xyz="0.017 0 0"/>
    <parent link="qbhand_right_middle_proximal_link"/>
    <child link="qbhand_right_middle_middle_virtual_link"/>
    <axis xyz="0 0 -1"/>
    <dynamics damping="0.0" friction="0.0"/>
    <limit effort="100" lower="0.0" upper="0.785" velocity="100"/>
    <mimic joint="qbhand_right_synergy_joint" multiplier="0.785"/>
  </joint>
  <link name="qbhand_right_middle_middle_virtual_link">
    <inertial>
      <origin rpy="0 0 0" xyz="0 0 0"/>
      <mass value="0.005"/>
      <inertia ixx="1e-08" ixy="0.0" ixz="0.0" iyy="1e-08" iyz="0.0" izz="1e-08"/>
    </inertial>
  </link>
  <joint name="qbhand_right_middle_middle_virtual_joint" type="fixed">
    <origin rpy="0 0 0" xyz="0.013 0 0"/>
    <parent link="qbhand_right_middle_middle_virtual_link"/>
    <child link="qbhand_right_middle_middle_link"/>
    <axis xyz="0 0 -1"/>
    <dynamics damping="0.0" friction="0.0"/>
    <limit effort="100" lower="0.0" upper="0.785" velocity="100"/>
    <mimic joint="qbhand_right_middle_middle_joint" multiplier="1.0"/>
  </joint>
  <link name="qbhand_right_middle_middle_link">
    <inertial>
      <mass value="0.005"/>
      <origin xyz="0 0 0"/>
      <inertia ixx="1e-06" ixy="0.0" ixz="0.0" iyy="1e-06" iyz="0.0" izz="1e-06"/>
    </inertial>
    <visual>
      <origin rpy="0 0 0" xyz="0 0 0"/>
      <geometry>
        <mesh filename="package://qb_hand_description/meshes/ph_small.obj" scale="0.001 0.001 0.001"/>
      </geometry>
    </visual>
    <collision>
      <origin rpy="0 0 0" xyz="0 0 0"/>
      <geometry>
        <mesh filename="package://qb_hand_description/meshes/ph_small.obj" scale="0.001 0.001 0.001"/>
      </geometry>
    </collision>
  </link>
  <joint name="qbhand_right_middle_distal_joint" type="fixed">
    <origin rpy="0 0 0" xyz="0.009 0 0"/>
    <parent link="qbhand_right_middle_middle_link"/>
    <child link="qbhand_right_middle_distal_virtual_link"/>
    <axis xyz="0 0 -1"/>
    <dynamics damping="0.0" friction="0.0"/>
    <limit effort="100" lower="0.0" upper="0.785" velocity="100"/>
    <mimic joint="qbhand_right_synergy_joint" multiplier="0.785"/>
  </joint>
  <link name="qbhand_right_middle_distal_virtual_link">
    <inertial>
      <origin rpy="0 0 0" xyz="0 0 0"/>
      <mass value="0.005"/>
      <inertia ixx="1e-08" ixy="0.0" ixz="0.0" iyy="1e-08" iyz="0.0" izz="1e-08"/>
    </inertial>
  </link>
  <joint name="qbhand_right_middle_distal_virtual_joint" type="fixed">
    <origin rpy="0 0 0" xyz="0.013 0 0"/>
    <parent link="qbhand_right_middle_distal_virtual_link"/>
    <child link="qbhand_right_middle_distal_link"/>
    <axis xyz="0 0 -1"/>
    <dynamics damping="0.0" friction="0.0"/>
    <limit effort="100" lower="0.0" upper="0.785" velocity="100"/>
    <mimic joint="qbhand_right_middle_distal_joint" multiplier="1.0"/>
  </joint>
  <link name="qbhand_right_middle_distal_link">
    <inertial>
      <mass value="0.005"/>
      <origin xyz="0 0 0"/>
      <inertia ixx="1e-06" ixy="0.0" ixz="0.0" iyy="1e-06" iyz="0.0" izz="1e-06"/>
    </inertial>
    <visual>
      <origin rpy="0 0 0" xyz="0 0 0"/>
      <geometry>
        <mesh filename="package://qb_hand_description/meshes/ph_distal.obj" scale="0.001 0.001 0.001"/>
      </geometry>
    </visual>
    <collision>
      <origin rpy="0 0 0" xyz="0 0 0"/>
      <geometry>
        <mesh filename="package://qb_hand_description/meshes/ph_distal.obj" scale="0.001 0.001 0.001"/>
      </geometry>
    </collision>
  </link>
  <joint name="qbhand_right_ring_knuckle_joint" type="fixed">
    <origin rpy="0 0 0" xyz="0.02 -0.007 0.014"/>
    <parent link="qbhand_right_palm_link"/>
    <child link="qbhand_right_ring_knuckle_link"/>
    <axis xyz="0 0 -1"/>
    <dynamics damping="0.0" friction="0.0"/>
    <limit effort="100" lower="-0.524" upper="0.524" velocity="100"/>
    <mimic joint="qbhand_right_synergy_joint" multiplier="0.2"/>
  </joint>
  <link name="qbhand_right_ring_knuckle_link">
    <inertial>
      <mass value="0.005"/>
      <origin xyz="0 0 0"/>
      <inertia ixx="1e-06" ixy="0.0" ixz="0.0" iyy="1e-06" iyz="0.0" izz="1e-06"/>
    </inertial>
    <visual>
      <origin rpy="0 0 0" xyz="0 0 0"/>
      <geometry>
        <mesh filename="package://qb_hand_description/meshes/ph_knuckle.obj" scale="0.001 0.001 0.001"/>
      </geometry>
    </visual>
    <collision>
      <origin rpy="0 0 0" xyz="0 0 0"/>
      <geometry>
        <mesh filename="package://qb_hand_description/meshes/ph_knuckle.obj" scale="0.001 0.001 0.001"/>
      </geometry>
    </collision>
  </link>
  <joint name="qbhand_right_ring_proximal_joint" type="fixed">
    <origin rpy="1.57 0 1.57" xyz="0 0.009 0"/>
    <parent link="qbhand_right_ring_knuckle_link"/>
    <child link="qbhand_right_ring_proximal_virtual_link"/>
    <axis xyz="0 0 -1"/>
    <dynamics damping="0.0" friction="0.0"/>
    <limit effort="100" lower="0.0" upper="0.785" velocity="100"/>
    <mimic joint="qbhand_right_synergy_joint" multiplier="0.785"/>
  </joint>
  <link name="qbhand_right_ring_proximal_virtual_link">
    <inertial>
      <origin rpy="0 0 0" xyz="0 0 0"/>
      <mass value="0.005"/>
      <inertia ixx="1e-08" ixy="0.0" ixz="0.0" iyy="1e-08" iyz="0.0" izz="1e-08"/>
    </inertial>
  </link>
  <joint name="qbhand_right_ring_proximal_virtual_joint" type="fixed">
    <origin rpy="0 0 0" xyz="0.013 0 0"/>
    <parent link="qbhand_right_ring_proximal_virtual_link"/>
    <child link="qbhand_right_ring_proximal_link"/>
    <axis xyz="0 0 -1"/>
    <dynamics damping="0.0" friction="0.0"/>
    <limit effort="100" lower="0.0" upper="0.785" velocity="100"/>
    <mimic joint="qbhand_right_ring_proximal_joint" multiplier="1.0"/>
  </joint>
  <link name="qbhand_right_ring_proximal_link">
    <inertial>
      <mass value="0.005"/>
      <origin xyz="0 0 0"/>
      <inertia ixx="1e-06" ixy="0.0" ixz="0.0" iyy="1e-06" iyz="0.0" izz="1e-06"/>
    </inertial>
    <visual>
      <origin rpy="0 0 0" xyz="0 0 0"/>
      <geometry>
        <mesh filename="package://qb_hand_description/meshes/ph_medium.obj" scale="0.001 0.001 0.001"/>
      </geometry>
    </visual>
    <collision>
      <origin rpy="0 0 0" xyz="0 0 0"/>
      <geometry>
        <mesh filename="package://qb_hand_description/meshes/ph_medium.obj" scale="0.001 0.001 0.001"/>
      </geometry>
    </collision>
  </link>
  <joint name="qbhand_right_ring_middle_joint" type="fixed">
    <origin rpy="0 0 0" xyz="0.017 0 0"/>
    <parent link="qbhand_right_ring_proximal_link"/>
    <child link="qbhand_right_ring_middle_virtual_link"/>
    <axis xyz="0 0 -1"/>
    <dynamics damping="0.0" friction="0.0"/>
    <limit effort="100" lower="0.0" upper="0.785" velocity="100"/>
    <mimic joint="qbhand_right_synergy_joint" multiplier="0.785"/>
  </joint>
  <link name="qbhand_right_ring_middle_virtual_link">
    <inertial>
      <origin rpy="0 0 0" xyz="0 0 0"/>
      <mass value="0.005"/>
      <inertia ixx="1e-08" ixy="0.0" ixz="0.0" iyy="1e-08" iyz="0.0" izz="1e-08"/>
    </inertial>
  </link>
  <joint name="qbhand_right_ring_middle_virtual_joint" type="fixed">
    <origin rpy="0 0 0" xyz="0.013 0 0"/>
    <parent link="qbhand_right_ring_middle_virtual_link"/>
    <child link="qbhand_right_ring_middle_link"/>
    <axis xyz="0 0 -1"/>
    <dynamics damping="0.0" friction="0.0"/>
    <limit effort="100" lower="0.0" upper="0.785" velocity="100"/>
    <mimic joint="qbhand_right_ring_middle_joint" multiplier="1.0"/>
  </joint>
  <link name="qbhand_right_ring_middle_link">
    <inertial>
      <mass value="0.005"/>
      <origin xyz="0 0 0"/>
      <inertia ixx="1e-06" ixy="0.0" ixz="0.0" iyy="1e-06" iyz="0.0" izz="1e-06"/>
    </inertial>
    <visual>
      <origin rpy="0 0 0" xyz="0 0 0"/>
      <geometry>
        <mesh filename="package://qb_hand_description/meshes/ph_small.obj" scale="0.001 0.001 0.001"/>
      </geometry>
    </visual>
    <collision>
      <origin rpy="0 0 0" xyz="0 0 0"/>
      <geometry>
        <mesh filename="package://qb_hand_description/meshes/ph_small.obj" scale="0.001 0.001 0.001"/>
      </geometry>
    </collision>
  </link>
  <joint name="qbhand_right_ring_distal_joint" type="fixed">
    <origin rpy="0 0 0" xyz="0.009 0 0"/>
    <parent link="qbhand_right_ring_middle_link"/>
    <child link="qbhand_right_ring_distal_virtual_link"/>
    <axis xyz="0 0 -1"/>
    <dynamics damping="0.0" friction="0.0"/>
    <limit effort="100" lower="0.0" upper="0.785" velocity="100"/>
    <mimic joint="qbhand_right_synergy_joint" multiplier="0.785"/>
  </joint>
  <link name="qbhand_right_ring_distal_virtual_link">
    <inertial>
      <origin rpy="0 0 0" xyz="0 0 0"/>
      <mass value="0.005"/>
      <inertia ixx="1e-08" ixy="0.0" ixz="0.0" iyy="1e-08" iyz="0.0" izz="1e-08"/>
    </inertial>
  </link>
  <joint name="qbhand_right_ring_distal_virtual_joint" type="fixed">
    <origin rpy="0 0 0" xyz="0.013 0 0"/>
    <parent link="qbhand_right_ring_distal_virtual_link"/>
    <child link="qbhand_right_ring_distal_link"/>
    <axis xyz="0 0 -1"/>
    <dynamics damping="0.0" friction="0.0"/>
    <limit effort="100" lower="0.0" upper="0.785" velocity="100"/>
    <mimic joint="qbhand_right_ring_distal_joint" multiplier="1.0"/>
  </joint>
  <link name="qbhand_right_ring_distal_link">
    <inertial>
      <mass value="0.005"/>
      <origin xyz="0 0 0"/>
      <inertia ixx="1e-06" ixy="0.0" ixz="0.0" iyy="1e-06" iyz="0.0" izz="1e-06"/>
    </inertial>
    <visual>
      <origin rpy="0 0 0" xyz="0 0 0"/>
      <geometry>
        <mesh filename="package://qb_hand_description/meshes/ph_distal.obj" scale="0.001 0.001 0.001"/>
      </geometry>
    </visual>
    <collision>
      <origin rpy="0 0 0" xyz="0 0 0"/>
      <geometry>
        <mesh filename="package://qb_hand_description/meshes/ph_distal.obj" scale="0.001 0.001 0.001"/>
      </geometry>
    </collision>
  </link>
  <joint name="qbhand_right_little_knuckle_joint" type="fixed">
    <origin rpy="0 0 0" xyz="0.04 -0.012 0.014"/>
    <parent link="qbhand_right_palm_link"/>
    <child link="qbhand_right_little_knuckle_link"/>
    <axis xyz="0 0 -1"/>
    <dynamics damping="0.0" friction="0.0"/>
    <limit effort="100" lower="-0.524" upper="0.524" velocity="100"/>
    <mimic joint="qbhand_right_synergy_joint" multiplier="0.4"/>
  </joint>
  <link name="qbhand_right_little_knuckle_link">
    <inertial>
      <mass value="0.005"/>
      <origin xyz="0 0 0"/>
      <inertia ixx="1e-06" ixy="0.0" ixz="0.0" iyy="1e-06" iyz="0.0" izz="1e-06"/>
    </inertial>
    <visual>
      <origin rpy="0 0 0" xyz="0 0 0"/>
      <geometry>
        <mesh filename="package://qb_hand_description/meshes/ph_knuckle.obj" scale="0.001 0.001 0.001"/>
      </geometry>
    </visual>
    <collision>
      <origin rpy="0 0 0" xyz="0 0 0"/>
      <geometry>
        <mesh filename="package://qb_hand_description/meshes/ph_knuckle.obj" scale="0.001 0.001 0.001"/>
      </geometry>
    </collision>
  </link>
  <joint name="qbhand_right_little_proximal_joint" type="fixed">
    <origin rpy="1.57 0 1.57" xyz="0 0.009 0"/>
    <parent link="qbhand_right_little_knuckle_link"/>
    <child link="qbhand_right_little_proximal_virtual_link"/>
    <axis xyz="0 0 -1"/>
    <dynamics damping="0.0" friction="0.0"/>
    <limit effort="100" lower="0.0" upper="0.785" velocity="100"/>
    <mimic joint="qbhand_right_synergy_joint" multiplier="0.785"/>
  </joint>
  <link name="qbhand_right_little_proximal_virtual_link">
    <inertial>
      <origin rpy="0 0 0" xyz="0 0 0"/>
      <mass value="0.005"/>
      <inertia ixx="1e-08" ixy="0.0" ixz="0.0" iyy="1e-08" iyz="0.0" izz="1e-08"/>
    </inertial>
  </link>
  <joint name="qbhand_right_little_proximal_virtual_joint" type="fixed">
    <origin rpy="0 0 0" xyz="0.013 0 0"/>
    <parent link="qbhand_right_little_proximal_virtual_link"/>
    <child link="qbhand_right_little_proximal_link"/>
    <axis xyz="0 0 -1"/>
    <dynamics damping="0.0" friction="0.0"/>
    <limit effort="100" lower="0.0" upper="0.785" velocity="100"/>
    <mimic joint="qbhand_right_little_proximal_joint" multiplier="1.0"/>
  </joint>
  <link name="qbhand_right_little_proximal_link">
    <inertial>
      <mass value="0.005"/>
      <origin xyz="0 0 0"/>
      <inertia ixx="1e-06" ixy="0.0" ixz="0.0" iyy="1e-06" iyz="0.0" izz="1e-06"/>
    </inertial>
    <visual>
      <origin rpy="0 0 0" xyz="0 0 0"/>
      <geometry>
        <mesh filename="package://qb_hand_description/meshes/ph_small.obj" scale="0.001 0.001 0.001"/>
      </geometry>
    </visual>
    <collision>
      <origin rpy="0 0 0" xyz="0 0 0"/>
      <geometry>
        <mesh filename="package://qb_hand_description/meshes/ph_small.obj" scale="0.001 0.001 0.001"/>
      </geometry>
    </collision>
  </link>
  <joint name="qbhand_right_little_middle_joint" type="fixed">
    <origin rpy="0 0 0" xyz="0.009 0 0"/>
    <parent link="qbhand_right_little_proximal_link"/>
    <child link="qbhand_right_little_middle_virtual_link"/>
    <axis xyz="0 0 -1"/>
    <dynamics damping="0.0" friction="0.0"/>
    <limit effort="100" lower="0.0" upper="0.785" velocity="100"/>
    <mimic joint="qbhand_right_synergy_joint" multiplier="0.785"/>
  </joint>
  <link name="qbhand_right_little_middle_virtual_link">
    <inertial>
      <origin rpy="0 0 0" xyz="0 0 0"/>
      <mass value="0.005"/>
      <inertia ixx="1e-08" ixy="0.0" ixz="0.0" iyy="1e-08" iyz="0.0" izz="1e-08"/>
    </inertial>
  </link>
  <joint name="qbhand_right_little_middle_virtual_joint" type="fixed">
    <origin rpy="0 0 0" xyz="0.013 0 0"/>
    <parent link="qbhand_right_little_middle_virtual_link"/>
    <child link="qbhand_right_little_middle_link"/>
    <axis xyz="0 0 -1"/>
    <dynamics damping="0.0" friction="0.0"/>
    <limit effort="100" lower="0.0" upper="0.785" velocity="100"/>
    <mimic joint="qbhand_right_little_middle_joint" multiplier="1.0"/>
  </joint>
  <link name="qbhand_right_little_middle_link">
    <inertial>
      <mass value="0.005"/>
      <origin xyz="0 0 0"/>
      <inertia ixx="1e-06" ixy="0.0" ixz="0.0" iyy="1e-06" iyz="0.0" izz="1e-06"/>
    </inertial>
    <visual>
      <origin rpy="0 0 0" xyz="0 0 0"/>
      <geometry>
        <mesh filename="package://qb_hand_description/meshes/ph_small.obj" scale="0.001 0.001 0.001"/>
      </geometry>
    </visual>
    <collision>
      <origin rpy="0 0 0" xyz="0 0 0"/>
      <geometry>
        <mesh filename="package://qb_hand_description/meshes/ph_small.obj" scale="0.001 0.001 0.001"/>
      </geometry>
    </collision>
  </link>
  <joint name="qbhand_right_little_distal_joint" type="fixed">
    <origin rpy="0 0 0" xyz="0.009 0 0"/>
    <parent link="qbhand_right_little_middle_link"/>
    <child link="qbhand_right_little_distal_virtual_link"/>
    <axis xyz="0 0 -1"/>
    <dynamics damping="0.0" friction="0.0"/>
    <limit effort="100" lower="0.0" upper="0.785" velocity="100"/>
    <mimic joint="qbhand_right_synergy_joint" multiplier="0.785"/>
  </joint>
  <link name="qbhand_right_little_distal_virtual_link">
    <inertial>
      <origin rpy="0 0 0" xyz="0 0 0"/>
      <mass value="0.005"/>
      <inertia ixx="1e-08" ixy="0.0" ixz="0.0" iyy="1e-08" iyz="0.0" izz="1e-08"/>
    </inertial>
  </link>
  <joint name="qbhand_right_little_distal_virtual_joint" type="fixed">
    <origin rpy="0 0 0" xyz="0.013 0 0"/>
    <parent link="qbhand_right_little_distal_virtual_link"/>
    <child link="qbhand_right_little_distal_link"/>
    <axis xyz="0 0 -1"/>
    <dynamics damping="0.0" friction="0.0"/>
    <limit effort="100" lower="0.0" upper="0.785" velocity="100"/>
    <mimic joint="qbhand_right_little_distal_joint" multiplier="1.0"/>
  </joint>
  <link name="qbhand_right_little_distal_link">
    <inertial>
      <mass value="0.005"/>
      <origin xyz="0 0 0"/>
      <inertia ixx="1e-06" ixy="0.0" ixz="0.0" iyy="1e-06" iyz="0.0" izz="1e-06"/>
    </inertial>
    <visual>
      <origin rpy="0 0 0" xyz="0 0 0"/>
      <geometry>
        <mesh filename="package://qb_hand_description/meshes/ph_distal.obj" scale="0.001 0.001 0.001"/>
      </geometry>
    </visual>
    <collision>
      <origin rpy="0 0 0" xyz="0 0 0"/>
      <geometry>
        <mesh filename="package://qb_hand_description/meshes/ph_distal.obj" scale="0.001 0.001 0.001"/>
      </geometry>
    </collision>
  </link>
  <joint name="j_l_shoulder_y" type="revolute">
    <origin rpy="0.261799 0.0 -0.261799" xyz="0.01041 0.20675 0.54735"/>
    <parent link="pelvis"/>
    <child link="l_scapula"/>
    <axis xyz="0.0 1.0 0.0"/>
    <limit effort="-1.0" lower="-2.4240878" upper="0.981049573" velocity="-1.0"/>
  </joint>
  <link name="l_scapula">
    <inertial>
      <origin rpy="0.0 0.0 0.0" xyz="5.1063E-4 -0.06534731 0.02796782"/>
      <mass value="3.00902868"/>
      <inertia ixx="0.01028211" ixy="-4.893E-5" ixz="-7.063E-5" iyy="0.01156515" iyz="-0.00119105" izz="0.01333081"/>
    </inertial>
    <visual>
      <origin rpy="1.5707963 0.0 3.14159" xyz="0.0 0.0 0.0"/>
      <geometry>
        <mesh filename="package://eve_r3_description/meshes/scapula.obj" scale="1 1 1"/>
      </geometry>
    </visual>
  </link>
  <joint name="j_l_shoulder_x" type="revolute">
    <origin rpy="-0.261799 0.0 0.0" xyz="0.0 0.0 0.0"/>
    <parent link="l_scapula"/>
    <child link="l_shoulder"/>
    <axis xyz="1.0 0.0 0.0"/>
    <limit effort="-1.0" lower="-0.0872665" upper="2.0943951" velocity="-1.0"/>
  </joint>
  <link name="l_shoulder">
    <inertial>
      <origin rpy="0.0 0.0 0.0" xyz="-1.673E-5 1.9377E-4 -0.01871047"/>
      <mass value="0.62091759"/>
      <inertia ixx="9.7077E-4" ixy="3.76E-6" ixz="-1.39E-6" iyy="0.00133514" iyz="5.96E-6" izz="7.8248E-4"/>
    </inertial>
    <visual>
      <origin rpy="3.14159 0.0 0.0" xyz="0.0 0.0 0.0"/>
      <geometry>
        <mesh filename="package://eve_r3_description/meshes/shoulder.obj" scale="1 1 1"/>
      </geometry>
    </visual>
  </link>
  <joint name="j_l_shoulder_z" type="revolute">
    <origin rpy="0.0 0.0 0.261799" xyz="0.0 0.0 0.0"/>
    <parent link="l_shoulder"/>
    <child link="l_upper_arm"/>
    <axis xyz="0.0 0.0 1.0"/>
    <limit effort="-1.0" lower="-1.4660761" upper="0.5410525" velocity="-1.0"/>
  </joint>
  <link name="l_upper_arm">
    <inertial>
      <origin rpy="0.0 0.0 0.0" xyz="-0.00698778 1.1145E-4 -0.11499125"/>
      <mass value="3.32260186"/>
      <inertia ixx="0.01596325" ixy="8.08E-6" ixz="-5.5061E-4" iyy="0.01552407" iyz="4.445E-5" izz="0.00620843"/>
    </inertial>
    <visual>
      <origin rpy="1.5707963 0.0 3.14159" xyz="0.0 0.0 0.0"/>
      <geometry>
        <mesh filename="package://eve_r3_description/meshes/upper_arm.obj" scale="1 1 1"/>
      </geometry>
    </visual>
    <collision>
      <origin rpy="3.14159 0.0342758 3.14159" xyz="-0.00724655 2.24005e-08 -0.118328"/>
      <geometry>
        <sphere radius="0.07633577123052412"/>
      </geometry>
    </collision>
    <collision>
      <origin rpy="3.14159 0.0342758 3.14159" xyz="-0.00381012 1.59666e-08 -0.218547"/>
      <geometry>
        <cylinder length="0.20055564626986525" radius="0.07633577123052412"/>
      </geometry>
    </collision>
    <collision>
      <origin rpy="3.14159 0.0342758 3.14159" xyz="-0.000373695 9.53277e-09 -0.318766"/>
      <geometry>
        <sphere radius="0.07633577123052412"/>
      </geometry>
    </collision>
  </link>
  <joint name="j_l_elbow_y" type="revolute">
    <origin rpy="0.0 0.0 0.0" xyz="0.0 0.0 -0.3141"/>
    <parent link="l_upper_arm"/>
    <child link="l_elbow"/>
    <axis xyz="0.0 1.0 0.0"/>
    <limit effort="-1.0" lower="-2.18166" upper="0.0" velocity="-1.0"/>
  </joint>
  <link name="l_elbow">
    <inertial>
      <origin rpy="0.0 0.0 0.0" xyz="6.509E-5 2.07E-6 -0.00890634"/>
      <mass value="0.46228452"/>
      <inertia ixx="8.234E-4" ixy="-1.0E-8" ixz="1.04E-6" iyy="3.6507E-4" iyz="-3.0E-8" izz="6.1458E-4"/>
    </inertial>
    <visual>
      <origin rpy="0.0 3.14159 1.5707963" xyz="0.0 0.0 0.0"/>
      <geometry>
        <mesh filename="package://eve_r3_description/meshes/elbow.obj" scale="1 1 1"/>
      </geometry>
    </visual>
  </link>
  <joint name="j_l_elbow_z" type="revolute">
    <origin rpy="0.0 0.0 0.0" xyz="0.0 0.0 0.0"/>
    <parent link="l_elbow"/>
    <child link="l_lower_arm"/>
    <axis xyz="0.0 0.0 1.0"/>
    <limit effort="-1.0" lower="-1.5708" upper="0.7854" velocity="-1.0"/>
  </joint>
  <link name="l_lower_arm">
    <inertial>
      <origin rpy="0.0 0.0 0.0" xyz="5.231E-5 -6.031E-5 -0.14272377"/>
      <mass value="1.72646966"/>
      <inertia ixx="0.00752577" ixy="3.09E-6" ixz="-3.88E-6" iyy="0.0078581" iyz="-4.25E-6" izz="0.00189705"/>
    </inertial>
    <visual>
      <origin rpy="0.0 3.14159 0.0" xyz="0.0 0.0 -0.29285"/>
      <geometry>
        <mesh filename="package://eve_r3_description/meshes/forearm.obj" scale="1 1 1"/>
      </geometry>
    </visual>
    <collision>
      <origin rpy="-1.42646e-11 -0.00013964 9.95948e-16" xyz="1.10713e-05 -2.03587e-12 -0.286073"/>
      <geometry>
        <sphere radius="0.061232815843670255"/>
      </geometry>
    </collision>
    <collision>
      <origin rpy="-1.42646e-11 -0.00013964 9.95948e-16" xyz="-3.15753e-06 -5.8236e-13 -0.184176"/>
      <geometry>
        <cylinder length="0.20379361437171506" radius="0.061232815843670255"/>
      </geometry>
    </collision>
    <collision>
      <origin rpy="-1.42646e-11 -0.00013964 9.95948e-16" xyz="-1.73864e-05 8.71154e-13 -0.0822794"/>
      <geometry>
        <sphere radius="0.061232815843670255"/>
      </geometry>
    </collision>
  </link>
  <joint name="j_l_wrist_y" type="revolute">
    <origin rpy="0.0 0.0 0.0" xyz="0.0 0.0 -0.29285"/>
    <parent link="l_lower_arm"/>
    <child link="l_wrist"/>
    <axis xyz="0.0 1.0 0.0"/>
    <limit effort="-1.0" lower="-0.785398" upper="0.785398" velocity="-1.0"/>
  </joint>
  <link name="l_wrist">
    <inertial>
      <origin rpy="0.0 0.0 0.0" xyz="-1.859E-4 -5.5E-5 -0.001294"/>
      <mass value="0.3582051"/>
      <inertia ixx="2.896E-4" ixy="2.1E-6" ixz="1.1E-6" iyy="2.335E-4" iyz="3.0E-7" izz="3.221E-4"/>
    </inertial>
    <visual>
      <origin rpy="0.0 0.0 1.5708" xyz="0.0 0.0 0.0"/>
      <geometry>
        <mesh filename="package://eve_r3_description/meshes/wrist.obj" scale="1 1 1"/>
      </geometry>
    </visual>
  </link>
  <joint name="j_l_wrist_x" type="revolute">
    <origin rpy="0.0 0.0 0.0" xyz="0.0 0.0 0.0"/>
    <parent link="l_wrist"/>
    <child link="l_palm"/>
    <axis xyz="1.0 0.0 0.0"/>
    <limit effort="-1.0" lower="-1.5708" upper="0.523599" velocity="-1.0"/>
  </joint>
  <link name="l_palm">
    <inertial>
      <origin rpy="0.0 0.0 0.0" xyz="-0.0038054 0.002091 -0.03373019"/>
      <mass value="0.22529206"/>
      <inertia ixx="2.4167E-4" ixy="-5.6E-7" ixz="3.083E-5" iyy="4.0895E-4" iyz="-3.58E-6" izz="2.7633E-4"/>
    </inertial>
    <visual>
      <origin rpy="-1.5707963 0.0 3.14159" xyz="0.0 0.0 0.0"/>
      <geometry>
        <mesh filename="package://eve_r3_description/meshes/palm.obj" scale="1 1 1"/>
      </geometry>
    </visual>
  </link>
  <joint name="qbhand_left_base_fixed_joint" type="fixed">
    <origin rpy="3.14 0 0.0" xyz="0 0 -0.06"/>
    <parent link="l_palm"/>
    <child link="qbhand_left_base_link"/>
  </joint>
  <link name="qbhand_left_base_link">
    <inertial>
      <mass value="0.15"/>
      <origin xyz="0 0 0.0015"/>
      <inertia ixx="6e-05" ixy="0" ixz="0" iyy="6e-05" iyz="0" izz="9e-05"/>
    </inertial>
    <visual>
      <origin rpy="0 0 0" xyz="0 0 0"/>
      <geometry>
        <mesh filename="package://qb_hand_description/meshes/flange_iso_04.obj" scale="0.001 0.001 0.001"/>
      </geometry>
    </visual>
    <collision>
      <origin rpy="0 0 0" xyz="0 0 0"/>
      <geometry>
        <mesh filename="package://qb_hand_description/meshes/flange_iso_04.obj" scale="0.001 0.001 0.001"/>
      </geometry>
    </collision>
  </link>
  <joint name="qbhand_left_palm_fixed_joint" type="fixed">
    <origin rpy="1.57 0 3.14" xyz="0.0045 0.0145 0.144"/>
    <parent link="qbhand_left_base_link"/>
    <child link="qbhand_left_palm_link"/>
  </joint>
  <link name="qbhand_left_palm_link">
    <inertial>
      <mass value="0.36"/>
      <origin xyz="0.0 0.02 0.05"/>
      <inertia ixx="0.00045" ixy="0.0" ixz="0.0" iyy="0.0006" iyz="0.0" izz="0.00025"/>
    </inertial>
    <visual>
      <origin rpy="0 0 0" xyz="0 0 0"/>
      <geometry>
        <mesh filename="package://qb_hand_description/meshes/palm_pinch_l.obj" scale="0.001 0.001 0.001"/>
      </geometry>
    </visual>
    <collision>
      <origin rpy="0 0 0" xyz="0 0 0"/>
      <geometry>
        <mesh filename="package://qb_hand_description/meshes/palm_pinch_l.obj" scale="0.001 0.001 0.001"/>
      </geometry>
    </collision>
  </link>
  <joint name="qbhand_left_synergy_joint" type="fixed">
    <origin rpy="0 0 0" xyz="0 0 0"/>
    <parent link="qbhand_left_palm_link"/>
    <child link="qbhand_left_tendon_virtual_link"/>
    <axis xyz="0 0 1"/>
    <dynamics damping="0.0" friction="0.0"/>
    <limit effort="100" lower="0.0" upper="1.0" velocity="100"/>
  </joint>
  <link name="qbhand_left_tendon_virtual_link">
    <inertial>
      <origin rpy="0 0 0" xyz="0 0 0"/>
      <mass value="0.005"/>
      <inertia ixx="1e-08" ixy="0.0" ixz="0.0" iyy="1e-08" iyz="0.0" izz="1e-08"/>
    </inertial>
  </link>
  <joint name="qbhand_left_thumb_knuckle_joint" type="fixed">
    <origin rpy="1.57 3.14 0" xyz="-0.0435 -0.0435 -0.002"/>
    <parent link="qbhand_left_palm_link"/>
    <child link="qbhand_left_thumb_knuckle_link"/>
    <axis xyz="0 0 -1"/>
    <dynamics damping="0.0" friction="0.0"/>
    <limit effort="100" lower="0.0" upper="1.571" velocity="100"/>
    <mimic joint="qbhand_left_synergy_joint" multiplier="2.542"/>
  </joint>
  <link name="qbhand_left_thumb_knuckle_link">
    <inertial>
      <mass value="0.005"/>
      <origin xyz="0 0 0"/>
      <inertia ixx="1e-06" ixy="0.0" ixz="0.0" iyy="1e-06" iyz="0.0" izz="1e-06"/>
    </inertial>
    <visual>
      <origin rpy="0 0 0" xyz="0 0 0"/>
      <geometry>
        <mesh filename="package://qb_hand_description/meshes/ph_thumb_l.obj" scale="0.001 0.001 0.001"/>
      </geometry>
    </visual>
    <collision>
      <origin rpy="0 0 0" xyz="0 0 0"/>
      <geometry>
        <mesh filename="package://qb_hand_description/meshes/ph_thumb_l.obj" scale="0.001 0.001 0.001"/>
      </geometry>
    </collision>
  </link>
  <joint name="qbhand_left_thumb_proximal_joint" type="fixed">
    <origin rpy="1.15 0.0 0.0" xyz="0.0255 -0.004 0.0025"/>
    <parent link="qbhand_left_thumb_knuckle_link"/>
    <child link="qbhand_left_thumb_proximal_virtual_link"/>
    <axis xyz="0 0 -1"/>
    <dynamics damping="0.0" friction="0.0"/>
    <limit effort="100" lower="0.0" upper="0.785" velocity="100"/>
    <mimic joint="qbhand_left_synergy_joint" multiplier="0.785"/>
  </joint>
  <link name="qbhand_left_thumb_proximal_virtual_link">
    <inertial>
      <origin rpy="0 0 0" xyz="0 0 0"/>
      <mass value="0.005"/>
      <inertia ixx="1e-08" ixy="0.0" ixz="0.0" iyy="1e-08" iyz="0.0" izz="1e-08"/>
    </inertial>
  </link>
  <joint name="qbhand_left_thumb_proximal_virtual_joint" type="fixed">
    <origin rpy="0 0 0" xyz="0.013 0 0"/>
    <parent link="qbhand_left_thumb_proximal_virtual_link"/>
    <child link="qbhand_left_thumb_proximal_link"/>
    <axis xyz="0 0 -1"/>
    <dynamics damping="0.0" friction="0.0"/>
    <limit effort="100" lower="0.0" upper="0.785" velocity="100"/>
    <mimic joint="qbhand_left_thumb_proximal_joint" multiplier="1.0"/>
  </joint>
  <link name="qbhand_left_thumb_proximal_link">
    <inertial>
      <mass value="0.005"/>
      <origin xyz="0 0 0"/>
      <inertia ixx="1e-06" ixy="0.0" ixz="0.0" iyy="1e-06" iyz="0.0" izz="1e-06"/>
    </inertial>
    <visual>
      <origin rpy="0 0 0" xyz="0 0 0"/>
      <geometry>
        <mesh filename="package://qb_hand_description/meshes/ph_small.obj" scale="0.001 0.001 0.001"/>
      </geometry>
    </visual>
    <collision>
      <origin rpy="0 0 0" xyz="0 0 0"/>
      <geometry>
        <mesh filename="package://qb_hand_description/meshes/ph_small.obj" scale="0.001 0.001 0.001"/>
      </geometry>
    </collision>
  </link>
  <joint name="qbhand_left_thumb_distal_joint" type="fixed">
    <origin rpy="0 0 0" xyz="0.009 0 0"/>
    <parent link="qbhand_left_thumb_proximal_link"/>
    <child link="qbhand_left_thumb_distal_virtual_link"/>
    <axis xyz="0 0 -1"/>
    <dynamics damping="0.0" friction="0.0"/>
    <limit effort="100" lower="0.0" upper="0.785" velocity="100"/>
    <mimic joint="qbhand_left_synergy_joint" multiplier="0.785"/>
  </joint>
  <link name="qbhand_left_thumb_distal_virtual_link">
    <inertial>
      <origin rpy="0 0 0" xyz="0 0 0"/>
      <mass value="0.005"/>
      <inertia ixx="1e-08" ixy="0.0" ixz="0.0" iyy="1e-08" iyz="0.0" izz="1e-08"/>
    </inertial>
  </link>
  <joint name="qbhand_left_thumb_distal_virtual_joint" type="fixed">
    <origin rpy="0 0 0" xyz="0.013 0 0"/>
    <parent link="qbhand_left_thumb_distal_virtual_link"/>
    <child link="qbhand_left_thumb_distal_link"/>
    <axis xyz="0 0 -1"/>
    <dynamics damping="0.0" friction="0.0"/>
    <limit effort="100" lower="0.0" upper="0.785" velocity="100"/>
    <mimic joint="qbhand_left_thumb_distal_joint" multiplier="1.0"/>
  </joint>
  <link name="qbhand_left_thumb_distal_link">
    <inertial>
      <mass value="0.005"/>
      <origin xyz="0 0 0"/>
      <inertia ixx="1e-06" ixy="0.0" ixz="0.0" iyy="1e-06" iyz="0.0" izz="1e-06"/>
    </inertial>
    <visual>
      <origin rpy="0 0 0" xyz="0 0 0"/>
      <geometry>
        <mesh filename="package://qb_hand_description/meshes/ph_distal.obj" scale="0.001 0.001 0.001"/>
      </geometry>
    </visual>
    <collision>
      <origin rpy="0 0 0" xyz="0 0 0"/>
      <geometry>
        <mesh filename="package://qb_hand_description/meshes/ph_distal.obj" scale="0.001 0.001 0.001"/>
      </geometry>
    </collision>
  </link>
  <joint name="qbhand_left_index_knuckle_joint" type="fixed">
    <origin rpy="0 3.14 0" xyz="-0.02 -0.007 -0.014"/>
    <parent link="qbhand_left_palm_link"/>
    <child link="qbhand_left_index_knuckle_link"/>
    <axis xyz="0 0 -1"/>
    <dynamics damping="0.0" friction="0.0"/>
    <limit effort="100" lower="-0.524" upper="0.524" velocity="100"/>
    <mimic joint="qbhand_left_synergy_joint" multiplier="0.2"/>
  </joint>
  <link name="qbhand_left_index_knuckle_link">
    <inertial>
      <mass value="0.005"/>
      <origin xyz="0 0 0"/>
      <inertia ixx="1e-06" ixy="0.0" ixz="0.0" iyy="1e-06" iyz="0.0" izz="1e-06"/>
    </inertial>
    <visual>
      <origin rpy="0 0 0" xyz="0 0 0"/>
      <geometry>
        <mesh filename="package://qb_hand_description/meshes/ph_knuckle.obj" scale="0.001 0.001 0.001"/>
      </geometry>
    </visual>
    <collision>
      <origin rpy="0 0 0" xyz="0 0 0"/>
      <geometry>
        <mesh filename="package://qb_hand_description/meshes/ph_knuckle.obj" scale="0.001 0.001 0.001"/>
      </geometry>
    </collision>
  </link>
  <joint name="qbhand_left_index_proximal_joint" type="fixed">
    <origin rpy="1.57 0 1.57" xyz="0 0.009 0"/>
    <parent link="qbhand_left_index_knuckle_link"/>
    <child link="qbhand_left_index_proximal_virtual_link"/>
    <axis xyz="0 0 -1"/>
    <dynamics damping="0.0" friction="0.0"/>
    <limit effort="100" lower="0.0" upper="0.785" velocity="100"/>
    <mimic joint="qbhand_left_synergy_joint" multiplier="0.785"/>
  </joint>
  <link name="qbhand_left_index_proximal_virtual_link">
    <inertial>
      <origin rpy="0 0 0" xyz="0 0 0"/>
      <mass value="0.005"/>
      <inertia ixx="1e-08" ixy="0.0" ixz="0.0" iyy="1e-08" iyz="0.0" izz="1e-08"/>
    </inertial>
  </link>
  <joint name="qbhand_left_index_proximal_virtual_joint" type="fixed">
    <origin rpy="0 0 0" xyz="0.013 0 0"/>
    <parent link="qbhand_left_index_proximal_virtual_link"/>
    <child link="qbhand_left_index_proximal_link"/>
    <axis xyz="0 0 -1"/>
    <dynamics damping="0.0" friction="0.0"/>
    <limit effort="100" lower="0.0" upper="0.785" velocity="100"/>
    <mimic joint="qbhand_left_index_proximal_joint" multiplier="1.0"/>
  </joint>
  <link name="qbhand_left_index_proximal_link">
    <inertial>
      <mass value="0.005"/>
      <origin xyz="0 0 0"/>
      <inertia ixx="1e-06" ixy="0.0" ixz="0.0" iyy="1e-06" iyz="0.0" izz="1e-06"/>
    </inertial>
    <visual>
      <origin rpy="0 0 0" xyz="0 0 0"/>
      <geometry>
        <mesh filename="package://qb_hand_description/meshes/ph_medium.obj" scale="0.001 0.001 0.001"/>
      </geometry>
    </visual>
    <collision>
      <origin rpy="0 0 0" xyz="0 0 0"/>
      <geometry>
        <mesh filename="package://qb_hand_description/meshes/ph_medium.obj" scale="0.001 0.001 0.001"/>
      </geometry>
    </collision>
  </link>
  <joint name="qbhand_left_index_middle_joint" type="fixed">
    <origin rpy="0 0 0" xyz="0.017 0 0"/>
    <parent link="qbhand_left_index_proximal_link"/>
    <child link="qbhand_left_index_middle_virtual_link"/>
    <axis xyz="0 0 -1"/>
    <dynamics damping="0.0" friction="0.0"/>
    <limit effort="100" lower="0.0" upper="0.785" velocity="100"/>
    <mimic joint="qbhand_left_synergy_joint" multiplier="0.785"/>
  </joint>
  <link name="qbhand_left_index_middle_virtual_link">
    <inertial>
      <origin rpy="0 0 0" xyz="0 0 0"/>
      <mass value="0.005"/>
      <inertia ixx="1e-08" ixy="0.0" ixz="0.0" iyy="1e-08" iyz="0.0" izz="1e-08"/>
    </inertial>
  </link>
  <joint name="qbhand_left_index_middle_virtual_joint" type="fixed">
    <origin rpy="0 0 0" xyz="0.013 0 0"/>
    <parent link="qbhand_left_index_middle_virtual_link"/>
    <child link="qbhand_left_index_middle_link"/>
    <axis xyz="0 0 -1"/>
    <dynamics damping="0.0" friction="0.0"/>
    <limit effort="100" lower="0.0" upper="0.785" velocity="100"/>
    <mimic joint="qbhand_left_index_middle_joint" multiplier="1.0"/>
  </joint>
  <link name="qbhand_left_index_middle_link">
    <inertial>
      <mass value="0.005"/>
      <origin xyz="0 0 0"/>
      <inertia ixx="1e-06" ixy="0.0" ixz="0.0" iyy="1e-06" iyz="0.0" izz="1e-06"/>
    </inertial>
    <visual>
      <origin rpy="0 0 0" xyz="0 0 0"/>
      <geometry>
        <mesh filename="package://qb_hand_description/meshes/ph_small.obj" scale="0.001 0.001 0.001"/>
      </geometry>
    </visual>
    <collision>
      <origin rpy="0 0 0" xyz="0 0 0"/>
      <geometry>
        <mesh filename="package://qb_hand_description/meshes/ph_small.obj" scale="0.001 0.001 0.001"/>
      </geometry>
    </collision>
  </link>
  <joint name="qbhand_left_index_distal_joint" type="fixed">
    <origin rpy="0 0 0" xyz="0.009 0 0"/>
    <parent link="qbhand_left_index_middle_link"/>
    <child link="qbhand_left_index_distal_virtual_link"/>
    <axis xyz="0 0 -1"/>
    <dynamics damping="0.0" friction="0.0"/>
    <limit effort="100" lower="0.0" upper="0.785" velocity="100"/>
    <mimic joint="qbhand_left_synergy_joint" multiplier="0.785"/>
  </joint>
  <link name="qbhand_left_index_distal_virtual_link">
    <inertial>
      <origin rpy="0 0 0" xyz="0 0 0"/>
      <mass value="0.005"/>
      <inertia ixx="1e-08" ixy="0.0" ixz="0.0" iyy="1e-08" iyz="0.0" izz="1e-08"/>
    </inertial>
  </link>
  <joint name="qbhand_left_index_distal_virtual_joint" type="fixed">
    <origin rpy="0 0 0" xyz="0.013 0 0"/>
    <parent link="qbhand_left_index_distal_virtual_link"/>
    <child link="qbhand_left_index_distal_link"/>
    <axis xyz="0 0 -1"/>
    <dynamics damping="0.0" friction="0.0"/>
    <limit effort="100" lower="0.0" upper="0.785" velocity="100"/>
    <mimic joint="qbhand_left_index_distal_joint" multiplier="1.0"/>
  </joint>
  <link name="qbhand_left_index_distal_link">
    <inertial>
      <mass value="0.005"/>
      <origin xyz="0 0 0"/>
      <inertia ixx="1e-06" ixy="0.0" ixz="0.0" iyy="1e-06" iyz="0.0" izz="1e-06"/>
    </inertial>
    <visual>
      <origin rpy="0 0 0" xyz="0 0 0"/>
      <geometry>
        <mesh filename="package://qb_hand_description/meshes/ph_distal.obj" scale="0.001 0.001 0.001"/>
      </geometry>
    </visual>
    <collision>
      <origin rpy="0 0 0" xyz="0 0 0"/>
      <geometry>
        <mesh filename="package://qb_hand_description/meshes/ph_distal.obj" scale="0.001 0.001 0.001"/>
      </geometry>
    </collision>
  </link>
  <joint name="qbhand_left_middle_knuckle_joint" type="fixed">
    <origin rpy="0 3.14 0" xyz="0 0 -0.014"/>
    <parent link="qbhand_left_palm_link"/>
    <child link="qbhand_left_middle_knuckle_link"/>
    <axis xyz="0 0 -1"/>
    <dynamics damping="0.0" friction="0.0"/>
    <limit effort="100" lower="-0.524" upper="0.524" velocity="100"/>
    <mimic joint="qbhand_left_synergy_joint" multiplier="0.0"/>
  </joint>
  <link name="qbhand_left_middle_knuckle_link">
    <inertial>
      <mass value="0.005"/>
      <origin xyz="0 0 0"/>
      <inertia ixx="1e-06" ixy="0.0" ixz="0.0" iyy="1e-06" iyz="0.0" izz="1e-06"/>
    </inertial>
    <visual>
      <origin rpy="0 0 0" xyz="0 0 0"/>
      <geometry>
        <mesh filename="package://qb_hand_description/meshes/ph_knuckle.obj" scale="0.001 0.001 0.001"/>
      </geometry>
    </visual>
    <collision>
      <origin rpy="0 0 0" xyz="0 0 0"/>
      <geometry>
        <mesh filename="package://qb_hand_description/meshes/ph_knuckle.obj" scale="0.001 0.001 0.001"/>
      </geometry>
    </collision>
  </link>
  <joint name="qbhand_left_middle_proximal_joint" type="fixed">
    <origin rpy="1.57 0 1.57" xyz="0 0.009 0"/>
    <parent link="qbhand_left_middle_knuckle_link"/>
    <child link="qbhand_left_middle_proximal_virtual_link"/>
    <axis xyz="0 0 -1"/>
    <dynamics damping="0.0" friction="0.0"/>
    <limit effort="100" lower="0.0" upper="0.785" velocity="100"/>
    <mimic joint="qbhand_left_synergy_joint" multiplier="0.785"/>
  </joint>
  <link name="qbhand_left_middle_proximal_virtual_link">
    <inertial>
      <origin rpy="0 0 0" xyz="0 0 0"/>
      <mass value="0.005"/>
      <inertia ixx="1e-08" ixy="0.0" ixz="0.0" iyy="1e-08" iyz="0.0" izz="1e-08"/>
    </inertial>
  </link>
  <joint name="qbhand_left_middle_proximal_virtual_joint" type="fixed">
    <origin rpy="0 0 0" xyz="0.013 0 0"/>
    <parent link="qbhand_left_middle_proximal_virtual_link"/>
    <child link="qbhand_left_middle_proximal_link"/>
    <axis xyz="0 0 -1"/>
    <dynamics damping="0.0" friction="0.0"/>
    <limit effort="100" lower="0.0" upper="0.785" velocity="100"/>
    <mimic joint="qbhand_left_middle_proximal_joint" multiplier="1.0"/>
  </joint>
  <link name="qbhand_left_middle_proximal_link">
    <inertial>
      <mass value="0.005"/>
      <origin xyz="0 0 0"/>
      <inertia ixx="1e-06" ixy="0.0" ixz="0.0" iyy="1e-06" iyz="0.0" izz="1e-06"/>
    </inertial>
    <visual>
      <origin rpy="0 0 0" xyz="0 0 0"/>
      <geometry>
        <mesh filename="package://qb_hand_description/meshes/ph_medium.obj" scale="0.001 0.001 0.001"/>
      </geometry>
    </visual>
    <collision>
      <origin rpy="0 0 0" xyz="0 0 0"/>
      <geometry>
        <mesh filename="package://qb_hand_description/meshes/ph_medium.obj" scale="0.001 0.001 0.001"/>
      </geometry>
    </collision>
  </link>
  <joint name="qbhand_left_middle_middle_joint" type="fixed">
    <origin rpy="0 0 0" xyz="0.017 0 0"/>
    <parent link="qbhand_left_middle_proximal_link"/>
    <child link="qbhand_left_middle_middle_virtual_link"/>
    <axis xyz="0 0 -1"/>
    <dynamics damping="0.0" friction="0.0"/>
    <limit effort="100" lower="0.0" upper="0.785" velocity="100"/>
    <mimic joint="qbhand_left_synergy_joint" multiplier="0.785"/>
  </joint>
  <link name="qbhand_left_middle_middle_virtual_link">
    <inertial>
      <origin rpy="0 0 0" xyz="0 0 0"/>
      <mass value="0.005"/>
      <inertia ixx="1e-08" ixy="0.0" ixz="0.0" iyy="1e-08" iyz="0.0" izz="1e-08"/>
    </inertial>
  </link>
  <joint name="qbhand_left_middle_middle_virtual_joint" type="fixed">
    <origin rpy="0 0 0" xyz="0.013 0 0"/>
    <parent link="qbhand_left_middle_middle_virtual_link"/>
    <child link="qbhand_left_middle_middle_link"/>
    <axis xyz="0 0 -1"/>
    <dynamics damping="0.0" friction="0.0"/>
    <limit effort="100" lower="0.0" upper="0.785" velocity="100"/>
    <mimic joint="qbhand_left_middle_middle_joint" multiplier="1.0"/>
  </joint>
  <link name="qbhand_left_middle_middle_link">
    <inertial>
      <mass value="0.005"/>
      <origin xyz="0 0 0"/>
      <inertia ixx="1e-06" ixy="0.0" ixz="0.0" iyy="1e-06" iyz="0.0" izz="1e-06"/>
    </inertial>
    <visual>
      <origin rpy="0 0 0" xyz="0 0 0"/>
      <geometry>
        <mesh filename="package://qb_hand_description/meshes/ph_small.obj" scale="0.001 0.001 0.001"/>
      </geometry>
    </visual>
    <collision>
      <origin rpy="0 0 0" xyz="0 0 0"/>
      <geometry>
        <mesh filename="package://qb_hand_description/meshes/ph_small.obj" scale="0.001 0.001 0.001"/>
      </geometry>
    </collision>
  </link>
  <joint name="qbhand_left_middle_distal_joint" type="fixed">
    <origin rpy="0 0 0" xyz="0.009 0 0"/>
    <parent link="qbhand_left_middle_middle_link"/>
    <child link="qbhand_left_middle_distal_virtual_link"/>
    <axis xyz="0 0 -1"/>
    <dynamics damping="0.0" friction="0.0"/>
    <limit effort="100" lower="0.0" upper="0.785" velocity="100"/>
    <mimic joint="qbhand_left_synergy_joint" multiplier="0.785"/>
  </joint>
  <link name="qbhand_left_middle_distal_virtual_link">
    <inertial>
      <origin rpy="0 0 0" xyz="0 0 0"/>
      <mass value="0.005"/>
      <inertia ixx="1e-08" ixy="0.0" ixz="0.0" iyy="1e-08" iyz="0.0" izz="1e-08"/>
    </inertial>
  </link>
  <joint name="qbhand_left_middle_distal_virtual_joint" type="fixed">
    <origin rpy="0 0 0" xyz="0.013 0 0"/>
    <parent link="qbhand_left_middle_distal_virtual_link"/>
    <child link="qbhand_left_middle_distal_link"/>
    <axis xyz="0 0 -1"/>
    <dynamics damping="0.0" friction="0.0"/>
    <limit effort="100" lower="0.0" upper="0.785" velocity="100"/>
    <mimic joint="qbhand_left_middle_distal_joint" multiplier="1.0"/>
  </joint>
  <link name="qbhand_left_middle_distal_link">
    <inertial>
      <mass value="0.005"/>
      <origin xyz="0 0 0"/>
      <inertia ixx="1e-06" ixy="0.0" ixz="0.0" iyy="1e-06" iyz="0.0" izz="1e-06"/>
    </inertial>
    <visual>
      <origin rpy="0 0 0" xyz="0 0 0"/>
      <geometry>
        <mesh filename="package://qb_hand_description/meshes/ph_distal.obj" scale="0.001 0.001 0.001"/>
      </geometry>
    </visual>
    <collision>
      <origin rpy="0 0 0" xyz="0 0 0"/>
      <geometry>
        <mesh filename="package://qb_hand_description/meshes/ph_distal.obj" scale="0.001 0.001 0.001"/>
      </geometry>
    </collision>
  </link>
  <joint name="qbhand_left_ring_knuckle_joint" type="fixed">
    <origin rpy="0 3.14 0" xyz="0.02 -0.007 -0.014"/>
    <parent link="qbhand_left_palm_link"/>
    <child link="qbhand_left_ring_knuckle_link"/>
    <axis xyz="0 0 -1"/>
    <dynamics damping="0.0" friction="0.0"/>
    <limit effort="100" lower="-0.524" upper="0.524" velocity="100"/>
    <mimic joint="qbhand_left_synergy_joint" multiplier="-0.2"/>
  </joint>
  <link name="qbhand_left_ring_knuckle_link">
    <inertial>
      <mass value="0.005"/>
      <origin xyz="0 0 0"/>
      <inertia ixx="1e-06" ixy="0.0" ixz="0.0" iyy="1e-06" iyz="0.0" izz="1e-06"/>
    </inertial>
    <visual>
      <origin rpy="0 0 0" xyz="0 0 0"/>
      <geometry>
        <mesh filename="package://qb_hand_description/meshes/ph_knuckle.obj" scale="0.001 0.001 0.001"/>
      </geometry>
    </visual>
    <collision>
      <origin rpy="0 0 0" xyz="0 0 0"/>
      <geometry>
        <mesh filename="package://qb_hand_description/meshes/ph_knuckle.obj" scale="0.001 0.001 0.001"/>
      </geometry>
    </collision>
  </link>
  <joint name="qbhand_left_ring_proximal_joint" type="fixed">
    <origin rpy="1.57 0 1.57" xyz="0 0.009 0"/>
    <parent link="qbhand_left_ring_knuckle_link"/>
    <child link="qbhand_left_ring_proximal_virtual_link"/>
    <axis xyz="0 0 -1"/>
    <dynamics damping="0.0" friction="0.0"/>
    <limit effort="100" lower="0.0" upper="0.785" velocity="100"/>
    <mimic joint="qbhand_left_synergy_joint" multiplier="0.785"/>
  </joint>
  <link name="qbhand_left_ring_proximal_virtual_link">
    <inertial>
      <origin rpy="0 0 0" xyz="0 0 0"/>
      <mass value="0.005"/>
      <inertia ixx="1e-08" ixy="0.0" ixz="0.0" iyy="1e-08" iyz="0.0" izz="1e-08"/>
    </inertial>
  </link>
  <joint name="qbhand_left_ring_proximal_virtual_joint" type="fixed">
    <origin rpy="0 0 0" xyz="0.013 0 0"/>
    <parent link="qbhand_left_ring_proximal_virtual_link"/>
    <child link="qbhand_left_ring_proximal_link"/>
    <axis xyz="0 0 -1"/>
    <dynamics damping="0.0" friction="0.0"/>
    <limit effort="100" lower="0.0" upper="0.785" velocity="100"/>
    <mimic joint="qbhand_left_ring_proximal_joint" multiplier="1.0"/>
  </joint>
  <link name="qbhand_left_ring_proximal_link">
    <inertial>
      <mass value="0.005"/>
      <origin xyz="0 0 0"/>
      <inertia ixx="1e-06" ixy="0.0" ixz="0.0" iyy="1e-06" iyz="0.0" izz="1e-06"/>
    </inertial>
    <visual>
      <origin rpy="0 0 0" xyz="0 0 0"/>
      <geometry>
        <mesh filename="package://qb_hand_description/meshes/ph_medium.obj" scale="0.001 0.001 0.001"/>
      </geometry>
    </visual>
    <collision>
      <origin rpy="0 0 0" xyz="0 0 0"/>
      <geometry>
        <mesh filename="package://qb_hand_description/meshes/ph_medium.obj" scale="0.001 0.001 0.001"/>
      </geometry>
    </collision>
  </link>
  <joint name="qbhand_left_ring_middle_joint" type="fixed">
    <origin rpy="0 0 0" xyz="0.017 0 0"/>
    <parent link="qbhand_left_ring_proximal_link"/>
    <child link="qbhand_left_ring_middle_virtual_link"/>
    <axis xyz="0 0 -1"/>
    <dynamics damping="0.0" friction="0.0"/>
    <limit effort="100" lower="0.0" upper="0.785" velocity="100"/>
    <mimic joint="qbhand_left_synergy_joint" multiplier="0.785"/>
  </joint>
  <link name="qbhand_left_ring_middle_virtual_link">
    <inertial>
      <origin rpy="0 0 0" xyz="0 0 0"/>
      <mass value="0.005"/>
      <inertia ixx="1e-08" ixy="0.0" ixz="0.0" iyy="1e-08" iyz="0.0" izz="1e-08"/>
    </inertial>
  </link>
  <joint name="qbhand_left_ring_middle_virtual_joint" type="fixed">
    <origin rpy="0 0 0" xyz="0.013 0 0"/>
    <parent link="qbhand_left_ring_middle_virtual_link"/>
    <child link="qbhand_left_ring_middle_link"/>
    <axis xyz="0 0 -1"/>
    <dynamics damping="0.0" friction="0.0"/>
    <limit effort="100" lower="0.0" upper="0.785" velocity="100"/>
    <mimic joint="qbhand_left_ring_middle_joint" multiplier="1.0"/>
  </joint>
  <link name="qbhand_left_ring_middle_link">
    <inertial>
      <mass value="0.005"/>
      <origin xyz="0 0 0"/>
      <inertia ixx="1e-06" ixy="0.0" ixz="0.0" iyy="1e-06" iyz="0.0" izz="1e-06"/>
    </inertial>
    <visual>
      <origin rpy="0 0 0" xyz="0 0 0"/>
      <geometry>
        <mesh filename="package://qb_hand_description/meshes/ph_small.obj" scale="0.001 0.001 0.001"/>
      </geometry>
    </visual>
    <collision>
      <origin rpy="0 0 0" xyz="0 0 0"/>
      <geometry>
        <mesh filename="package://qb_hand_description/meshes/ph_small.obj" scale="0.001 0.001 0.001"/>
      </geometry>
    </collision>
  </link>
  <joint name="qbhand_left_ring_distal_joint" type="fixed">
    <origin rpy="0 0 0" xyz="0.009 0 0"/>
    <parent link="qbhand_left_ring_middle_link"/>
    <child link="qbhand_left_ring_distal_virtual_link"/>
    <axis xyz="0 0 -1"/>
    <dynamics damping="0.0" friction="0.0"/>
    <limit effort="100" lower="0.0" upper="0.785" velocity="100"/>
    <mimic joint="qbhand_left_synergy_joint" multiplier="0.785"/>
  </joint>
  <link name="qbhand_left_ring_distal_virtual_link">
    <inertial>
      <origin rpy="0 0 0" xyz="0 0 0"/>
      <mass value="0.005"/>
      <inertia ixx="1e-08" ixy="0.0" ixz="0.0" iyy="1e-08" iyz="0.0" izz="1e-08"/>
    </inertial>
  </link>
  <joint name="qbhand_left_ring_distal_virtual_joint" type="fixed">
    <origin rpy="0 0 0" xyz="0.013 0 0"/>
    <parent link="qbhand_left_ring_distal_virtual_link"/>
    <child link="qbhand_left_ring_distal_link"/>
    <axis xyz="0 0 -1"/>
    <dynamics damping="0.0" friction="0.0"/>
    <limit effort="100" lower="0.0" upper="0.785" velocity="100"/>
    <mimic joint="qbhand_left_ring_distal_joint" multiplier="1.0"/>
  </joint>
  <link name="qbhand_left_ring_distal_link">
    <inertial>
      <mass value="0.005"/>
      <origin xyz="0 0 0"/>
      <inertia ixx="1e-06" ixy="0.0" ixz="0.0" iyy="1e-06" iyz="0.0" izz="1e-06"/>
    </inertial>
    <visual>
      <origin rpy="0 0 0" xyz="0 0 0"/>
      <geometry>
        <mesh filename="package://qb_hand_description/meshes/ph_distal.obj" scale="0.001 0.001 0.001"/>
      </geometry>
    </visual>
    <collision>
      <origin rpy="0 0 0" xyz="0 0 0"/>
      <geometry>
        <mesh filename="package://qb_hand_description/meshes/ph_distal.obj" scale="0.001 0.001 0.001"/>
      </geometry>
    </collision>
  </link>
  <joint name="qbhand_left_little_knuckle_joint" type="fixed">
    <origin rpy="0 3.14 0" xyz="0.04 -0.012 -0.014"/>
    <parent link="qbhand_left_palm_link"/>
    <child link="qbhand_left_little_knuckle_link"/>
    <axis xyz="0 0 -1"/>
    <dynamics damping="0.0" friction="0.0"/>
    <limit effort="100" lower="-0.524" upper="0.524" velocity="100"/>
    <mimic joint="qbhand_left_synergy_joint" multiplier="-0.4"/>
  </joint>
  <link name="qbhand_left_little_knuckle_link">
    <inertial>
      <mass value="0.005"/>
      <origin xyz="0 0 0"/>
      <inertia ixx="1e-06" ixy="0.0" ixz="0.0" iyy="1e-06" iyz="0.0" izz="1e-06"/>
    </inertial>
    <visual>
      <origin rpy="0 0 0" xyz="0 0 0"/>
      <geometry>
        <mesh filename="package://qb_hand_description/meshes/ph_knuckle.obj" scale="0.001 0.001 0.001"/>
      </geometry>
    </visual>
    <collision>
      <origin rpy="0 0 0" xyz="0 0 0"/>
      <geometry>
        <mesh filename="package://qb_hand_description/meshes/ph_knuckle.obj" scale="0.001 0.001 0.001"/>
      </geometry>
    </collision>
  </link>
  <joint name="qbhand_left_little_proximal_joint" type="fixed">
    <origin rpy="1.57 0 1.57" xyz="0 0.009 0"/>
    <parent link="qbhand_left_little_knuckle_link"/>
    <child link="qbhand_left_little_proximal_virtual_link"/>
    <axis xyz="0 0 -1"/>
    <dynamics damping="0.0" friction="0.0"/>
    <limit effort="100" lower="0.0" upper="0.785" velocity="100"/>
    <mimic joint="qbhand_left_synergy_joint" multiplier="0.785"/>
  </joint>
  <link name="qbhand_left_little_proximal_virtual_link">
    <inertial>
      <origin rpy="0 0 0" xyz="0 0 0"/>
      <mass value="0.005"/>
      <inertia ixx="1e-08" ixy="0.0" ixz="0.0" iyy="1e-08" iyz="0.0" izz="1e-08"/>
    </inertial>
  </link>
  <joint name="qbhand_left_little_proximal_virtual_joint" type="fixed">
    <origin rpy="0 0 0" xyz="0.013 0 0"/>
    <parent link="qbhand_left_little_proximal_virtual_link"/>
    <child link="qbhand_left_little_proximal_link"/>
    <axis xyz="0 0 -1"/>
    <dynamics damping="0.0" friction="0.0"/>
    <limit effort="100" lower="0.0" upper="0.785" velocity="100"/>
    <mimic joint="qbhand_left_little_proximal_joint" multiplier="1.0"/>
  </joint>
  <link name="qbhand_left_little_proximal_link">
    <inertial>
      <mass value="0.005"/>
      <origin xyz="0 0 0"/>
      <inertia ixx="1e-06" ixy="0.0" ixz="0.0" iyy="1e-06" iyz="0.0" izz="1e-06"/>
    </inertial>
    <visual>
      <origin rpy="0 0 0" xyz="0 0 0"/>
      <geometry>
        <mesh filename="package://qb_hand_description/meshes/ph_small.obj" scale="0.001 0.001 0.001"/>
      </geometry>
    </visual>
    <collision>
      <origin rpy="0 0 0" xyz="0 0 0"/>
      <geometry>
        <mesh filename="package://qb_hand_description/meshes/ph_small.obj" scale="0.001 0.001 0.001"/>
      </geometry>
    </collision>
  </link>
  <joint name="qbhand_left_little_middle_joint" type="fixed">
    <origin rpy="0 0 0" xyz="0.009 0 0"/>
    <parent link="qbhand_left_little_proximal_link"/>
    <child link="qbhand_left_little_middle_virtual_link"/>
    <axis xyz="0 0 -1"/>
    <dynamics damping="0.0" friction="0.0"/>
    <limit effort="100" lower="0.0" upper="0.785" velocity="100"/>
    <mimic joint="qbhand_left_synergy_joint" multiplier="0.785"/>
  </joint>
  <link name="qbhand_left_little_middle_virtual_link">
    <inertial>
      <origin rpy="0 0 0" xyz="0 0 0"/>
      <mass value="0.005"/>
      <inertia ixx="1e-08" ixy="0.0" ixz="0.0" iyy="1e-08" iyz="0.0" izz="1e-08"/>
    </inertial>
  </link>
  <joint name="qbhand_left_little_middle_virtual_joint" type="fixed">
    <origin rpy="0 0 0" xyz="0.013 0 0"/>
    <parent link="qbhand_left_little_middle_virtual_link"/>
    <child link="qbhand_left_little_middle_link"/>
    <axis xyz="0 0 -1"/>
    <dynamics damping="0.0" friction="0.0"/>
    <limit effort="100" lower="0.0" upper="0.785" velocity="100"/>
    <mimic joint="qbhand_left_little_middle_joint" multiplier="1.0"/>
  </joint>
  <link name="qbhand_left_little_middle_link">
    <inertial>
      <mass value="0.005"/>
      <origin xyz="0 0 0"/>
      <inertia ixx="1e-06" ixy="0.0" ixz="0.0" iyy="1e-06" iyz="0.0" izz="1e-06"/>
    </inertial>
    <visual>
      <origin rpy="0 0 0" xyz="0 0 0"/>
      <geometry>
        <mesh filename="package://qb_hand_description/meshes/ph_small.obj" scale="0.001 0.001 0.001"/>
      </geometry>
    </visual>
    <collision>
      <origin rpy="0 0 0" xyz="0 0 0"/>
      <geometry>
        <mesh filename="package://qb_hand_description/meshes/ph_small.obj" scale="0.001 0.001 0.001"/>
      </geometry>
    </collision>
  </link>
  <joint name="qbhand_left_little_distal_joint" type="fixed">
    <origin rpy="0 0 0" xyz="0.009 0 0"/>
    <parent link="qbhand_left_little_middle_link"/>
    <child link="qbhand_left_little_distal_virtual_link"/>
    <axis xyz="0 0 -1"/>
    <dynamics damping="0.0" friction="0.0"/>
    <limit effort="100" lower="0.0" upper="0.785" velocity="100"/>
    <mimic joint="qbhand_left_synergy_joint" multiplier="0.785"/>
  </joint>
  <link name="qbhand_left_little_distal_virtual_link">
    <inertial>
      <origin rpy="0 0 0" xyz="0 0 0"/>
      <mass value="0.005"/>
      <inertia ixx="1e-08" ixy="0.0" ixz="0.0" iyy="1e-08" iyz="0.0" izz="1e-08"/>
    </inertial>
  </link>
  <joint name="qbhand_left_little_distal_virtual_joint" type="fixed">
    <origin rpy="0 0 0" xyz="0.013 0 0"/>
    <parent link="qbhand_left_little_distal_virtual_link"/>
    <child link="qbhand_left_little_distal_link"/>
    <axis xyz="0 0 -1"/>
    <dynamics damping="0.0" friction="0.0"/>
    <limit effort="100" lower="0.0" upper="0.785" velocity="100"/>
    <mimic joint="qbhand_left_little_distal_joint" multiplier="1.0"/>
  </joint>
  <link name="qbhand_left_little_distal_link">
    <inertial>
      <mass value="0.005"/>
      <origin xyz="0 0 0"/>
      <inertia ixx="1e-06" ixy="0.0" ixz="0.0" iyy="1e-06" iyz="0.0" izz="1e-06"/>
    </inertial>
    <visual>
      <origin rpy="0 0 0" xyz="0 0 0"/>
      <geometry>
        <mesh filename="package://qb_hand_description/meshes/ph_distal.obj" scale="0.001 0.001 0.001"/>
      </geometry>
    </visual>
    <collision>
      <origin rpy="0 0 0" xyz="0 0 0"/>
      <geometry>
        <mesh filename="package://qb_hand_description/meshes/ph_distal.obj" scale="0.001 0.001 0.001"/>
      </geometry>
    </collision>
  </link>
  <joint name="j_neck_y" type="revolute">
    <origin rpy="0.0 0.0 0.0" xyz="0.00646 0.00085 0.67201"/>
    <parent link="pelvis"/>
    <child link="head"/>
    <axis xyz="0.0 1.0 0.0"/>
    <limit effort="-1.0" lower="-0.335" upper="0.506" velocity="-1.0"/>
  </joint>
  <link name="head">
    <inertial>
      <origin rpy="0.0 0.0 0.0" xyz="0.02485953 -0.00373226 0.11157957"/>
      <mass value="1.84975554"/>
      <inertia ixx="0.01343625" ixy="-1.5664E-4" ixz="-0.00146014" iyy="0.01517256" iyz="1.7375E-4" izz="0.00763704"/>
    </inertial>
    <visual>
      <origin rpy="1.5707963 0.0 1.5707963" xyz="0.0 0.0 0.0"/>
      <geometry>
        <mesh filename="package://eve_r3_description/meshes/head.obj" scale="1 1 1"/>
      </geometry>
    </visual>
  </link>
  <gazebo reference="head">
    <sensor name="kinect_azure" type="depth">
      <!-- Set always_on only sensor, not on plugin -->
      <always_on>0</always_on>
      <!-- Set update_rate only sensor, not on plugin -->
      <update_rate>25</update_rate>
      <pose frame="">0.116669 0 0.17015 0 0.174533 0</pose>
      <camera name="camera_name">
        <image>
          <width>2048</width>
          <height>1536</height>
          <format>R8G8B8</format>
        </image>
        <horizontal_fov>1.5708</horizontal_fov>
        <clip>
          <near>0.2</near>
          <far>100</far>
        </clip>
      </camera>
      <plugin filename="libgazebo_ros_camera.so" name="camera_plugin">
        <frame_name>kinect_azure_camera_name</frame_name>
        <hack_baseline>0.07</hack_baseline>
        <min_depth>0.24</min_depth>
        <max_depth>2.88</max_depth>
      </plugin>
    </sensor>
  </gazebo>
</robot>
